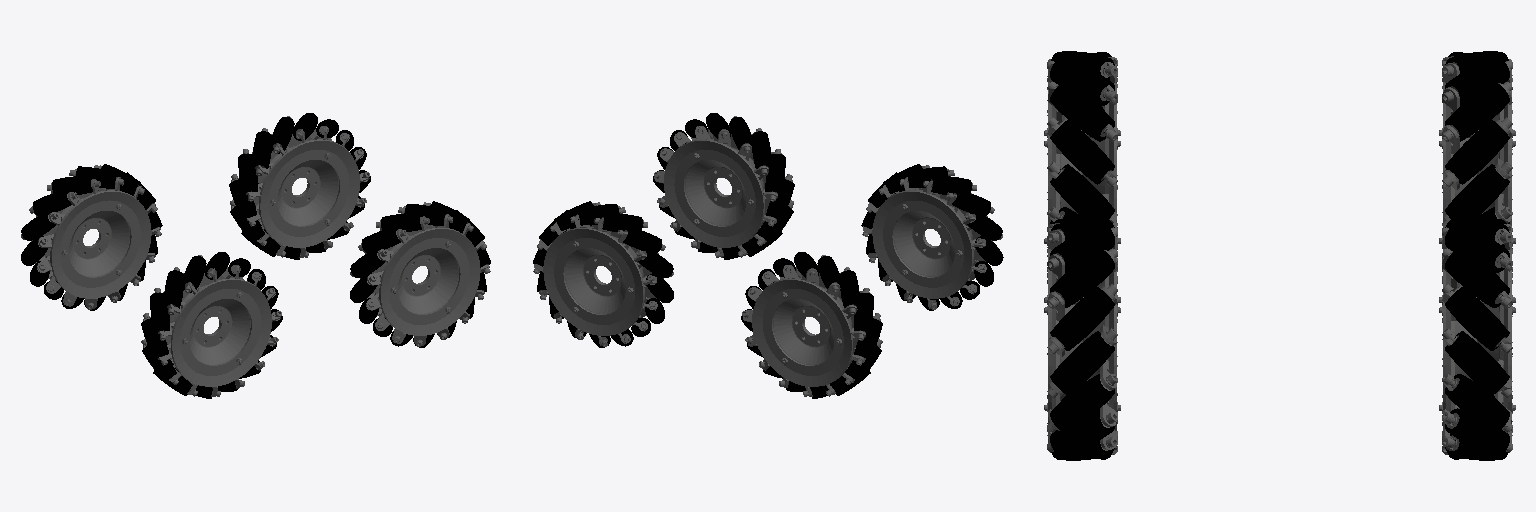
--- What the picture shows (computed from the rendered views, not written in the file) ---
3 views of the same robot in one strip: view 1: azimuth 30°, elevation 25°; view 2: azimuth 150°, elevation 25°; view 3: azimuth 270°, elevation 25° (orthographic).
Robot: robomaster_ep — 99 links, 98 joints (2 revolute, 64 continuous, 32 fixed); root link base_link; default pose: every joint at zero.
Links seen in each view (by area): view 1: rear_left_wheel_link, front_right_wheel_link, rear_right_wheel_link, front_left_wheel_link, rear_right_roller2_link, front_left_roller2_link, front_left_roller3_link, front_right_roller3_link, rear_right_roller3_link, rear_left_roller3_link, rear_left_roller4_link, front_right_roller4_link (+8 smaller); view 2: front_right_wheel_link, rear_left_wheel_link, rear_right_wheel_link, front_left_wheel_link, front_left_roller3_link, rear_right_roller3_link, front_right_roller2_link, rear_right_roller4_link, rear_left_roller2_link, front_left_roller4_link, front_right_roller3_link, rear_left_roller3_link (+8 smaller); view 3: front_right_wheel_link, front_left_wheel_link, rear_left_wheel_link, rear_right_wheel_link, front_left_roller8_link, front_left_roller7_link, rear_right_roller7_link, rear_left_roller7_link, front_right_roller8_link, front_right_roller7_link, front_left_roller6_link, rear_right_roller6_link (+18 smaller).
Link boxes in pixels (x1,y1,x2,y2): rear_left_wheel_link: [31, 165, 160, 308]; front_right_wheel_link: [360, 203, 489, 345]; rear_right_wheel_link: [143, 265, 280, 396]; front_left_wheel_link: [231, 126, 369, 257]; rear_right_roller2_link: [150, 288, 169, 340]; front_left_roller2_link: [238, 149, 258, 201]; front_left_roller3_link: [252, 128, 271, 175]; front_right_roller3_link: [358, 227, 406, 252]; rear_right_roller3_link: [164, 267, 183, 314]; rear_left_roller3_link: [29, 190, 77, 215]; rear_left_roller4_link: [47, 176, 100, 194]; front_right_roller4_link: [376, 213, 429, 231]; front_right_wheel_link: [654, 126, 792, 257]; rear_left_wheel_link: [743, 265, 880, 396]; rear_right_wheel_link: [863, 166, 992, 308]; front_left_wheel_link: [534, 203, 663, 345]; front_left_roller3_link: [617, 227, 665, 252]; rear_right_roller3_link: [946, 190, 994, 215]; front_right_roller2_link: [765, 149, 785, 201]; rear_right_roller4_link: [923, 176, 976, 194]; rear_left_roller2_link: [854, 288, 873, 340]; front_left_roller4_link: [594, 213, 647, 231]; front_right_roller3_link: [752, 128, 771, 175]; rear_left_roller3_link: [840, 267, 859, 314]; front_right_wheel_link: [1044, 223, 1120, 449]; front_left_wheel_link: [1439, 224, 1515, 450]; rear_left_wheel_link: [1439, 56, 1515, 271]; rear_right_wheel_link: [1044, 57, 1120, 271]; front_left_roller8_link: [1442, 328, 1512, 397]; front_left_roller7_link: [1442, 284, 1512, 353]; rear_right_roller7_link: [1047, 117, 1117, 186]; rear_left_roller7_link: [1442, 117, 1512, 186]; front_right_roller8_link: [1047, 328, 1117, 397]; front_right_roller7_link: [1047, 284, 1117, 353]; front_left_roller6_link: [1442, 248, 1512, 308]; rear_right_roller6_link: [1047, 82, 1117, 141].
Size in the robot's own frame: 0.323 by 0.2387 by 0.123 metres.
64 mesh visuals loaded from 38 distinct referenced files (2 Collada DAE); not drawn: 42 (reference not matched to a file when rendering).

URDF robot description (robomaster_ep):
<?xml version="1.0" ?>
<!-- =================================================================================== -->
<!-- |    This document was autogenerated by xacro from robomaster_ep.urdf.xacro       | -->
<!-- |    EDITING THIS FILE BY HAND IS NOT RECOMMENDED                                 | -->
<!-- =================================================================================== -->
<robot name="robomaster_ep">
  <link name="base_link"/>
  <link name="chassis_base_link">
    <inertial>
      <origin rpy="0 0 0" xyz="-0.0058789 -0.0001128 0.0294307"/>
      <mass value="9.934"/>
      <inertia ixx="0.01451" ixy="0" ixz="0" iyy="0.00512" iyz="0" izz="0.01759"/>
    </inertial>
    <visual name="armor">
      <origin rpy="0 0 0" xyz="-0.0064553 -0.078141 0.0292877"/>
      <geometry>
        <mesh filename="../meshes/armor.dae" scale="1.0 1.0 1.0"/>
      </geometry>
      <material name="armor_plastic"/>
    </visual>
    <visual name="battery">
      <origin rpy="0 0 0" xyz="-0.130336 -0.0018702 0.0174177"/>
      <geometry>
        <mesh filename="../meshes/battery.dae" scale="1.0 1.0 1.0"/>
      </geometry>
      <material name="dark_plastic"/>
    </visual>
    <visual name="battery_pin_left">
      <origin rpy="0 0 0" xyz="-0.1158907 0.066115 0.0525243"/>
      <geometry>
        <mesh filename="../meshes/battery_pin_left.dae" scale="1.0 1.0 1.0"/>
      </geometry>
      <material name="dark_plastic"/>
    </visual>
    <visual name="battery_pin_right">
      <origin rpy="0 0 0" xyz="-0.1158907 -0.0658844 0.0525243"/>
      <geometry>
        <mesh filename="../meshes/battery_pin_right.dae" scale="1.0 1.0 1.0"/>
      </geometry>
      <material name="dark_plastic"/>
    </visual>
    <visual name="chassis">
      <origin rpy="0 0 0" xyz="-0.0059039 0.0004154 0.0527955"/>
      <geometry>
        <mesh filename="../meshes/chassis.dae" scale="1.0 1.0 1.0"/>
      </geometry>
      <material name="chassis"/>
    </visual>
    <visual name="controller">
      <origin rpy="0 0 0" xyz="-0.1142288 -0.0006716 0.052675"/>
      <geometry>
        <mesh filename="../meshes/controller.dae" scale="1.0 1.0 1.0"/>
      </geometry>
      <material name="dark_plastic"/>
    </visual>
    <visual name="controller_cover">
      <origin rpy="0 0 0" xyz="-0.0787757 -0.002522 0.0720827"/>
      <geometry>
        <mesh filename="../meshes/controller_cover.dae" scale="1.0 1.0 1.0"/>
      </geometry>
      <material name="cover_plastic"/>
    </visual>
    <collision name="base_collision">
      <origin rpy="0 0 0" xyz="-0.0058789 -0.0001128 0.0294307"/>
      <geometry>
        <mesh filename="../meshes/base_collision.dae" scale="1.0 1.0 1.0"/>
      </geometry>
    </collision>
  </link>
  <joint name="chassis_base_joint" type="fixed">
    <origin rpy="0 0 0" xyz="0 0 0.03465"/>
    <parent link="base_link"/>
    <child link="chassis_base_link"/>
  </joint>
  <link name="front_hit_sensor_link">
    <inertial>
      <origin rpy="0 0 0" xyz="0 0 0"/>
      <mass value="0.001"/>
      <inertia ixx="0.001" ixy="0" ixz="0" iyy="0.001" iyz="0" izz="0.001"/>
    </inertial>
    <visual name="front_hit_sensor">
      <origin rpy="0 0 0" xyz="0 0 0"/>
      <geometry>
        <mesh filename="../meshes/hit_sensor.dae" scale="1.0 1.0 1.0"/>
      </geometry>
      <material name="hit_detector"/>
    </visual>
  </link>
  <link name="front_led_link">
    <inertial>
      <origin rpy="0 0 0" xyz="0 0 0"/>
      <mass value="0.001"/>
      <inertia ixx="0.001" ixy="0" ixz="0" iyy="0.001" iyz="0" izz="0.001"/>
    </inertial>
    <visual name="front_led">
      <origin rpy="0 0 0" xyz="0 0 0"/>
      <geometry>
        <mesh filename="../meshes/led.dae" scale="1.0 1.0 1.0"/>
      </geometry>
      <material name="led_light"/>
    </visual>
  </link>
  <joint name="front_hit_sensor_joint" type="fixed">
    <origin rpy="0 0 0" xyz="0.1569985 -0.0004276 0.0432862"/>
    <parent link="chassis_base_link"/>
    <child link="front_hit_sensor_link"/>
  </joint>
  <joint name="front_led_joint" type="fixed">
    <origin rpy="0 0 0" xyz="0.0087428 -0.0012841 3.75e-05"/>
    <parent link="front_hit_sensor_link"/>
    <child link="front_led_link"/>
  </joint>
  <link name="left_hit_sensor_link">
    <inertial>
      <origin rpy="0 0 0" xyz="0 0 0"/>
      <mass value="0.001"/>
      <inertia ixx="0.001" ixy="0" ixz="0" iyy="0.001" iyz="0" izz="0.001"/>
    </inertial>
    <visual name="left_hit_sensor">
      <origin rpy="0 0 0" xyz="0 0 0"/>
      <geometry>
        <mesh filename="../meshes/hit_sensor.dae" scale="1.0 1.0 1.0"/>
      </geometry>
      <material name="hit_detector"/>
    </visual>
  </link>
  <link name="left_led_link">
    <inertial>
      <origin rpy="0 0 0" xyz="0 0 0"/>
      <mass value="0.001"/>
      <inertia ixx="0.001" ixy="0" ixz="0" iyy="0.001" iyz="0" izz="0.001"/>
    </inertial>
    <visual name="left_led">
      <origin rpy="0 0 0" xyz="0 0 0"/>
      <geometry>
        <mesh filename="../meshes/led.dae" scale="1.0 1.0 1.0"/>
      </geometry>
      <material name="led_light"/>
    </visual>
  </link>
  <joint name="left_hit_sensor_joint" type="fixed">
    <origin rpy="0 0 1.5707963267948966" xyz="-0.0024413 0.0886932 0.0298341"/>
    <parent link="chassis_base_link"/>
    <child link="left_hit_sensor_link"/>
  </joint>
  <joint name="left_led_joint" type="fixed">
    <origin rpy="0 0 0" xyz="0.0087428 -0.0012841 3.75e-05"/>
    <parent link="left_hit_sensor_link"/>
    <child link="left_led_link"/>
  </joint>
  <link name="rear_hit_sensor_link">
    <inertial>
      <origin rpy="0 0 0" xyz="0 0 0"/>
      <mass value="0.001"/>
      <inertia ixx="0.001" ixy="0" ixz="0" iyy="0.001" iyz="0" izz="0.001"/>
    </inertial>
    <visual name="rear_hit_sensor">
      <origin rpy="0 0 0" xyz="0 0 0"/>
      <geometry>
        <mesh filename="../meshes/hit_sensor.dae" scale="1.0 1.0 1.0"/>
      </geometry>
      <material name="hit_detector"/>
    </visual>
  </link>
  <link name="rear_led_link">
    <inertial>
      <origin rpy="0 0 0" xyz="0 0 0"/>
      <mass value="0.001"/>
      <inertia ixx="0.001" ixy="0" ixz="0" iyy="0.001" iyz="0" izz="0.001"/>
    </inertial>
    <visual name="rear_led">
      <origin rpy="0 0 0" xyz="0 0 0"/>
      <geometry>
        <mesh filename="../meshes/led.dae" scale="1.0 1.0 1.0"/>
      </geometry>
      <material name="led_light"/>
    </visual>
  </link>
  <joint name="rear_hit_sensor_joint" type="fixed">
    <origin rpy="0 0 3.141592653589793" xyz="-0.1581827 -0.0027864 0.0303668"/>
    <parent link="chassis_base_link"/>
    <child link="rear_hit_sensor_link"/>
  </joint>
  <joint name="rear_led_joint" type="fixed">
    <origin rpy="0 0 0" xyz="0.0087428 -0.0012841 3.75e-05"/>
    <parent link="rear_hit_sensor_link"/>
    <child link="rear_led_link"/>
  </joint>
  <link name="right_hit_sensor_link">
    <inertial>
      <origin rpy="0 0 0" xyz="0 0 0"/>
      <mass value="0.001"/>
      <inertia ixx="0.001" ixy="0" ixz="0" iyy="0.001" iyz="0" izz="0.001"/>
    </inertial>
    <visual name="right_hit_sensor">
      <origin rpy="0 0 0" xyz="0 0 0"/>
      <geometry>
        <mesh filename="../meshes/hit_sensor.dae" scale="1.0 1.0 1.0"/>
      </geometry>
      <material name="hit_detector"/>
    </visual>
  </link>
  <link name="right_led_link">
    <inertial>
      <origin rpy="0 0 0" xyz="0 0 0"/>
      <mass value="0.001"/>
      <inertia ixx="0.001" ixy="0" ixz="0" iyy="0.001" iyz="0" izz="0.001"/>
    </inertial>
    <visual name="right_led">
      <origin rpy="0 0 0" xyz="0 0 0"/>
      <geometry>
        <mesh filename="../meshes/led.dae" scale="1.0 1.0 1.0"/>
      </geometry>
      <material name="led_light"/>
    </visual>
  </link>
  <joint name="right_hit_sensor_joint" type="fixed">
    <origin rpy="0 0 -1.5707963267948966" xyz="-0.0024413 -0.0886932 0.0298341"/>
    <parent link="chassis_base_link"/>
    <child link="right_hit_sensor_link"/>
  </joint>
  <joint name="right_led_joint" type="fixed">
    <origin rpy="0 0 0" xyz="0.0087428 -0.0012841 3.75e-05"/>
    <parent link="right_hit_sensor_link"/>
    <child link="right_led_link"/>
  </joint>

  

  <material name="armor_plastic">
    <color rgba="0.2277128 0.2277128 0.2277128 0.8"/>
  </material>
  <material name="chassis">
    <color rgba="0.0981132 0.0981132 0.0981132 1.0"/>
  </material>
  <material name="cover_plastic">
    <color rgba="0.2548322 0.2548322 0.2548322 0.30000000000000004"/>
  </material>
  <material name="dark_plastic">
    <color rgba="0.0281746 0.0281746 0.0281746 1.0"/>
  </material>
  <material name="metal">
    <color rgba="0.0281746 0.028 0.0281746 1.0"/>
  </material>
  <material name="hit_detector">
    <color rgba="0.1697846 0.1697846 0.1697846 1.0"/>
  </material>
  <material name="led_light">
    <color rgba="0 0.7773585 0.7773583 1.0"/>
  </material>
  <material name="wheel_plastic">
    <color rgba="0.2739087 0.2739087 0.2739087 1.0"/>
  </material>
  <material name="EP_up.001">
    <color rgba="0.0284811 0.0284811 0.0284811 1.0"/>
  </material>
  <link name="arm_1_link">
    <inertial>
      <origin rpy="0 0 0" xyz="-0.0005586 0.023592 0.0011729"/>
      <mass value="0.056"/>
      <inertia ixx="0.0156113" ixy="2.43e-05" ixz="1.8e-06" iyy="0.0161553" iyz="-0.0023011" izz="0.0018092"/>
    </inertial>
    <visual name="arm_1">
      <origin rpy="0 0 0" xyz="0.0073108 0.0184816 0.0437162"/>
      <geometry>
        <mesh filename="../meshes/arm_1.dae" scale="1.0 1.0 1.0"/>
      </geometry>
      <material name="metal"/>
    </visual>
    <visual name="arm_1_cylinder">
      <origin rpy="0 0 0" xyz="-0.0239031 0.0255713 -0.0368083"/>
      <geometry>
        <mesh filename="../meshes/arm_1_cylinder.dae" scale="1.0 1.0 1.0"/>
      </geometry>
      <material name="metal"/>
    </visual>
    <collision name="arm_1_collision">
      <origin rpy="0 0 0" xyz="0.0065116 0.0213649 0.0639448"/>
      <geometry>
        <mesh filename="../meshes/arm_1_collision.dae" scale="1.0 1.0 1.0"/>
      </geometry>
    </collision>
  </link>
  <!-- <link name="arm_2_dummy">
    </link> -->
  <link name="arm_2_link">
    <inertial>
      <origin rpy="0 0 0" xyz="0.0222614 -0.0202749 -0.008504"/>
      <mass value="0.08"/>
      <inertia ixx="0.0118624" ixy="1e-06" ixz="-3e-07" iyy="0.0041691" iyz="0.0031106" izz="0.0101456"/>
    </inertial>
    <visual name="arm_2">
      <origin rpy="0 0 0" xyz="0.0256122 -0.020134 -0.001308"/>
      <geometry>
        <mesh filename="../meshes/arm_2.dae" scale="1.0 1.0 1.0"/>
      </geometry>
      <material name="Test">
        <color rgba="0.0 0.0 0.0 1.0"/>
      </material>
    </visual>
    <visual name="arm_2_bar_1">
      <origin rpy="0 0 0" xyz="7.62e-05 0.0010863 -0.0002509"/>
      <geometry>
        <mesh filename="../meshes/arm_2_bar_1.dae" scale="1.0 1.0 1.0"/>
      </geometry>
      <material name="metal"/>
    </visual>
    <visual name="arm_2_bar_2">
      <origin rpy="0 0 0" xyz="-0.0423232 -0.0099192 0.0221971"/>
      <geometry>
        <mesh filename="../meshes/arm_2_bar_2.dae" scale="1.0 1.0 1.0"/>
      </geometry>
      <material name="metal"/>
    </visual>
    <collision name="arm_2_collision">
      <origin rpy="0 0 0" xyz="0.0222614 -0.0202749 -0.008504"/>
      <geometry>
        <mesh filename="../meshes/arm_2_collision.dae" scale="1.0 1.0 1.0"/>
      </geometry>
    </collision>
  </link>
  <!-- <link name="arm_base_attachment_link">
      <inertial>
        <origin xyz="0 0 0" rpy="0 0 0"/>
        <mass value="0.001"/>
        <inertia ixx="0.001" ixy="0" ixz="0" iyy="0.001" iyz="0" izz="0.001"/>
      </inertial>
    </link> -->
  <link name="arm_base_link">
    <inertial>
      <origin rpy="0 0 0" xyz="0 0 0"/>
      <mass value="0.3"/>
      <inertia ixx="0.0023" ixy="0" ixz="0" iyy="0.0025" iyz="0" izz="0.00072"/>
    </inertial>
    <visual name="arm_base">
      <origin rpy="0 0 0" xyz="-0.0008983 -0.0029745 -2.44e-05"/>
      <geometry>
        <mesh filename="../meshes/arm_base.dae" scale="1.0 1.0 1.0"/>
      </geometry>
      <material name="metal"/>
    </visual>
    <visual name="left_servo">
      <origin rpy="0 0 0" xyz="-0.013507 0 -0.0060673"/>
      <geometry>
        <mesh filename="../meshes/left_servo.dae" scale="1.0 1.0 1.0"/>
      </geometry>
      <material name="metal"/>
    </visual>
    <visual name="right_servo">
      <origin rpy="0 0 0" xyz="-0.013507 0 -0.0060673"/>
      <geometry>
        <mesh filename="../meshes/right_servo.dae" scale="1.0 1.0 1.0"/>
      </geometry>
      <material name="metal"/>
    </visual>
    <collision name="arm_base_collision">
      <origin rpy="0 0 0" xyz="-0.002098 -0.0004909 0.0073523"/>
      <geometry>
        <mesh filename="../meshes/arm_base_collision.dae" scale="1.0 1.0 1.0"/>
      </geometry>
    </collision>
  </link>
  <link name="end_point_link">
    </link>
  <link name="endpoint_bracket_link">
    <inertial>
      <origin rpy="0 0 0" xyz="0.0116468 -0.0288044 0.0041342"/>
      <mass value="0.028"/>
      <inertia ixx="0.0004413" ixy="0.0001147" ixz="2.69e-05" iyy="0.0008301" iyz="-2.89e-05" izz="0.0008237"/>
    </inertial>
    <visual name="endpoint_bracket">
      <origin rpy="0 0 0" xyz="0.0071657 -0.0245846 0.0008407"/>
      <geometry>
        <mesh filename="../meshes/endpoint_bracket.dae" scale="1.0 1.0 1.0"/>
      </geometry>
      <material name="metal"/>
    </visual>
    <collision name="endpoint_bracket_collision">
      <origin rpy="0 0 0" xyz="0.0116468 -0.0288044 0.0041342"/>
      <geometry>
        <mesh filename="../meshes/endpoint_bracket_collision.dae" scale="1.0 1.0 1.0"/>
      </geometry>
    </collision>
  </link>
  <!-- <link name="rod_1_dummy">
    </link> -->
  <link name="rod_1_link">
    <inertial>
      <origin rpy="0 0 0" xyz="-0.0477809 0 0.0272644"/>
      <mass value="0.012"/>
      <inertia ixx="0.0016031" ixy="0" ixz="0" iyy="0.0004085" iyz="0.000657" izz="0.0011959"/>
    </inertial>
    <visual name="rod_1">
      <origin rpy="0 0 0" xyz="-0.0479737 0 0.0301898"/>
      <geometry>
        <mesh filename="../meshes/rod_1.dae" scale="1.0 1.0 1.0"/>
      </geometry>
      <material name="metal"/>
    </visual>
    <collision name="rod_1_collision">
      <origin rpy="0 0 0" xyz="-0.0477809 0 0.0272644"/>
      <geometry>
        <mesh filename="../meshes/rod_1_collision.dae" scale="1.0 1.0 1.0"/>
      </geometry>
    </collision>
  </link>
  <!-- <link name="rod_2_dummy">
      <inertial>
        <origin xyz="0 0 0" rpy="0 0 0"/>
        <mass value="0.001"/>
        <inertia ixx="0.001" ixy="0" ixz="0" iyy="0.001" iyz="0" izz="0.001"/>
      </inertial>
    </link> -->
  <link name="rod_2_link">
    <inertial>
      <origin rpy="0 0 0" xyz="0.0011528 0 0.0549123"/>
      <mass value="0.012"/>
      <inertia ixx="0.0016147" ixy="0" ixz="0" iyy="0.0015792" iyz="-3.39e-05" izz="3.69e-05"/>
    </inertial>
    <visual name="rod_2">
      <origin rpy="0 0 0" xyz="-0.0012722 0 0.0561361"/>
      <geometry>
        <mesh filename="../meshes/rod_2.dae" scale="1.0000004 1.0 0.9999998"/>
      </geometry>
      <material name="metal"/>
    </visual>
    <collision name="rod_2_collision">
      <origin rpy="0 0 0" xyz="0.0011528 0 0.0549123"/>
      <geometry>
        <mesh filename="../meshes/rod_2_collision.dae" scale="1.0000004 1.0 0.9999998"/>
      </geometry>
    </collision>
  </link>
  <!-- <link name="rod_3_dummy">
      <inertial>
        <origin xyz="0 0 0" rpy="0 0 0"/>
        <mass value="0.001"/>
        <inertia ixx="0.001" ixy="0" ixz="0" iyy="0.001" iyz="0" izz="0.001"/>
      </inertial>
    </link> -->
  <link name="rod_3_link">
    <inertial>
      <origin rpy="0 0 0" xyz="-0.0003574 9.5e-06 0.0001674"/>
      <mass value="0.012"/>
      <inertia ixx="0.0059201" ixy="0" ixz="0" iyy="0.005887" iyz="1.87e-05" izz="3.45e-05"/>
    </inertial>
    <visual name="rod_3">
      <origin rpy="0 0 0" xyz="-0.0017304 0 0.0633558"/>
      <geometry>
        <mesh filename="../meshes/rod_3.dae" scale="1.0 1.0 1.0"/>
      </geometry>
      <material name="metal"/>
    </visual>
    <collision name="rod_3_collision">
      <origin rpy="0 0 0" xyz="0.0004696 9.5e-06 0.0561803"/>
      <geometry>
        <mesh filename="../meshes/rod_3_collision.dae" scale="1.0 1.0 1.0"/>
      </geometry>
    </collision>
  </link>
  <link name="rod_link">
    <inertial>
      <origin rpy="0 0 0" xyz="-8.11e-05 0.0023793 8.58e-05"/>
      <mass value="0.011"/>
      <inertia ixx="0.0009103" ixy="0" ixz="0" iyy="0.0002029" iyz="0.0003431" izz="0.0007136"/>
    </inertial>
    <visual name="rod">
      <origin rpy="0 0 0" xyz="-0.0261857 0.0022566 0.0121229"/>
      <geometry>
        <mesh filename="../meshes/rod.dae" scale="1.0 1.0 1.0"/>
      </geometry>
      <material name="metal"/>
    </visual>
    <collision name="rod_collision">
      <origin rpy="0 0 0" xyz="-0.02432 0.0022871 0.0136485"/>
      <geometry>
        <mesh filename="../meshes/rod_collision.dae" scale="1.0 1.0 1.0"/>
      </geometry>
    </collision>
  </link>
  <!-- <link name="triangle_1_dummy">
      <inertial>
        <origin xyz="0 0 0" rpy="0 0 0"/>
        <mass value="0.001"/>
        <inertia ixx="0.001" ixy="0" ixz="0" iyy="0.001" iyz="0" izz="0.001"/>
      </inertial>
    </link> -->
  <!-- <link name="triangle_2_dummy">
    </link> -->
  <link name="triangle_link">
    <inertial>
      <origin rpy="0 0 0" xyz="0.1417841 0.0321051 -0.1257179"/>
      <mass value="0.009"/>
      <inertia ixx="0.0205056" ixy="0.0021202" ixz="-0.0023248" iyy="0.0097562" iyz="0.0101162" izz="0.0117256"/>
    </inertial>
    <visual name="triangle">
      <origin rpy="0 0 0" xyz="-0.0095953 0 0.0131247"/>
      <geometry>
        <mesh filename="../meshes/triangle.dae" scale="1.0 1.0 1.0"/>
      </geometry>
      <material name="metal"/>
    </visual>
    <collision name="triangle_collision">
      <origin rpy="0 0 0" xyz="-0.0091994 0 0.012377"/>
      <geometry>
        <mesh filename="../meshes/triangle_collision.dae" scale="1.0 1.0 1.0"/>
      </geometry>
    </collision>
  </link>
  <joint name="arm_1_joint" type="fixed">
    <origin rpy="0 1.3 0" xyz="0.0103961 -0.0255713 0.030741"/>
    <parent link="arm_base_link"/>
    <child link="arm_1_link"/>
    <axis xyz="0.0 1.0 0"/>
    <limit effort="1" lower="-0.274" upper="1.384" velocity="1"/>
  </joint>
  <!-- <joint name="arm_2_dummy" type="floating">
      <origin xyz="-0.0419304 0.0028425 0.0218356" rpy="0 0 0"/>
      <parent link="arm_2_link"/>
      <child link="arm_2_dummy"/>
    </joint> -->
  <joint name="arm_2_joint" type="fixed">
    <origin rpy="0 -0.5 0" xyz="0.0018704 0.0438659 0.1210238"/>
    <parent link="arm_1_link"/>
    <child link="arm_2_link"/>
    <axis xyz="0.0 1.0 0"/>
    <limit effort="1" velocity="1"/>
    <mimic joint="rod_3_joint" multiplier="-1.0" offset="0.0"/>
  </joint>
  <!-- <joint name="arm_base_attachment_joint" type="fixed">
      <origin xyz="0 0.0010384 0.0906477" rpy="0 0 0"/>
      <parent link="base_link"/>
      <child link="arm_base_attachment_link"/>
    </joint> -->
  <joint name="arm_base_joint" type="fixed">
    <origin rpy="0 0 0" xyz="0 0.0010384 0.0906477"/>
    <parent link="chassis_base_link"/>
    <child link="arm_base_link"/>
  </joint>
  <!-- <joint name="attachement_link" type="floating">
      <origin xyz="0 0 0" rpy="0 0 0"/>
      <parent link="arm_base_link"/>
      <child link="attachement_link"/>
    </joint> -->
  <joint name="end_point_joint" type="fixed">
    <origin rpy="0 0 0" xyz="0.0110125 -0.0270264 -0.0103816"/>
    <parent link="endpoint_bracket_link"/>
    <child link="end_point_link"/>
  </joint>
  <joint name="endpoint_bracket_joint" type="fixed">
    <origin rpy="0 0 0" xyz="0.1058557 0.006752 -0.0561093"/>
    <parent link="arm_2_link"/>
    <child link="endpoint_bracket_link"/>
    <axis xyz="0.0 1.0 0"/>
    <mimic joint="rod_joint" multiplier="-1.0" offset="0.0"/>
    <!-- <limit effort="0" velocity="0"/> -->
  </joint>
  <!-- <joint name="rod_1_dummy" type="floating">
      <origin xyz="-0.1048751 0 0.0582511" rpy="0 0 0"/>
      <parent link="rod_1_link"/>
      <child link="rod_1_dummy"/>
    </joint> -->
  <joint name="rod_1_joint" type="fixed">
    <origin rpy="0 -0.021293 0" xyz="0.0134583 -0.0540971 0.0213068"/>
    <parent link="endpoint_bracket_link"/>
    <child link="rod_1_link"/>
    <axis xyz="0.0 1.0 0"/>
    <mimic joint="rod_joint" multiplier="1.0" offset="0.0"/>
  </joint>
  <!-- <joint name="rod_2_dummy" type="floating">
      <origin xyz="0.0036225 0 0.1198535" rpy="0 0 0"/>
      <parent link="rod_2_link"/>
      <child link="rod_2_dummy"/>
    </joint> -->
  <joint name="rod_2_joint" type="fixed">
    <origin rpy="0 1.3 0" xyz="-0.0224276 -0.0290701 0.0554782"/>
    <parent link="arm_base_link"/>
    <child link="rod_2_link"/>
    <axis xyz="0.0 1.0 0"/>
    <mimic joint="arm_1_joint" multiplier="1.0" offset="0.0"/>
    <!-- <limit effort="0" velocity="0"/> -->
  </joint>
  <!-- <joint name="rod_3_dummy" type="floating">
      <origin xyz="0.0029281 -0.0007404 0.1193638" rpy="0 0 0"/>
      <parent link="rod_3_link"/>
      <child link="rod_3_dummy"/>
    </joint> -->
  <joint name="rod_3_joint" type="fixed">
    <origin rpy="0 0.5 0" xyz="-0.042397 0.0004533 0.0223131"/>
    <parent link="rod_link"/>
    <child link="rod_3_link"/>
    <axis xyz="0.0 1.0 0"/>
    <limit effort="1" lower="-0.34732" upper="1.21475" velocity="1"/>
  </joint>
  <joint name="rod_joint" type="fixed">
    <origin rpy="0 0.8 0" xyz="0.009805 0.0214241 0.0319234"/>
    <parent link="arm_base_link"/>
    <child link="rod_link"/>
    <axis xyz="0.0 1.0 0"/>
    <limit effort="1" lower="-0.79936" upper="1.73137" velocity="1"/>
  </joint>
  <!-- <joint name="triangle_1_dummy" type="floating">
      <origin xyz="-0.037193 0 0.0147539" rpy="0 0 0"/>
      <parent link="triangle_link"/>
      <child link="triangle_1_dummy"/>
    </joint>

    <joint name="triangle_2_dummy" type="floating">
      <origin xyz="0.0077464 6.66e-05 0.0235099" rpy="0 0 0"/>
      <parent link="triangle_link"/>
      <child link="triangle_2_dummy"/>
    </joint> -->
  <joint name="triangle_joint" type="fixed">
    <origin rpy="0 -1.1 0" xyz="0.0020224 -0.007103 0.1212334"/>
    <parent link="arm_1_link"/>
    <child link="triangle_link"/>
    <axis xyz="0.0 1.0 0"/>
    <mimic joint="arm_1_joint" multiplier="-1.0" offset="0.0"/>
  </joint>




  <link name="left_gripper_link_1">
    <inertial>
      <origin rpy="0 0 0" xyz="0 0 0"/>
      <mass value="0.001"/>
      <inertia ixx="0.001" ixy="0" ixz="0" iyy="0.001" iyz="0" izz="0.001"/>
    </inertial>
    <visual name="left_gripper_1">
      <origin rpy="0 0 0" xyz="-1.52e-05 8.12e-05 -2.25e-05"/>
      <geometry>
        <mesh filename="../meshes/gripper_left_1.dae" scale="1.0 1.0 1.0"/>
      </geometry>
      <material name="EP_up.001"/>
    </visual>
  </link>
  <link name="left_gripper_link_2">
    <inertial>
      <origin rpy="0 0 0" xyz="0 0 0"/>
      <mass value="0.001"/>
      <inertia ixx="0.001" ixy="0" ixz="0" iyy="0.001" iyz="0" izz="0.001"/>
    </inertial>
    <visual name="left_gripper_2">
      <origin rpy="0 0 0" xyz="0.0135565 -0.0033557 -2.25e-05"/>
      <geometry>
        <mesh filename="../meshes/gripper_left_2.dae" scale="1.0 1.0 1.0"/>
      </geometry>
      <material name="EP_up.001"/>
    </visual>
    <collision name="left_gripper_2_collision">
      <origin rpy="0 0 0" xyz="0.0136108 -0.003318 -0.0296613"/>
      <geometry>
        <mesh filename="../meshes/gripper_left_2_collision.dae" scale="1.0 1.0 1.0"/>
      </geometry>
    </collision>
  </link>
  <!-- <link name="left_gripper_link_3_dummy">
          <inertial>
            <origin xyz="0 0 0" rpy="0 0 0"/>
            <mass value="0.001"/>
            <inertia ixx="0.001" ixy="0" ixz="0" iyy="0.001" iyz="0" izz="0.001"/>
          </inertial>
        </link> -->
  <link name="left_gripper_link_4">
    <inertial>
      <origin rpy="0 0 0" xyz="0 0 0"/>
      <mass value="0.001"/>
      <inertia ixx="0.001" ixy="0" ixz="0" iyy="0.001" iyz="0" izz="0.001"/>
    </inertial>
    <visual name="left_gripper_4">
      <origin rpy="0 0 0" xyz="-4.74e-05 0.0001737 -1.67e-05"/>
      <geometry>
        <mesh filename="../meshes/gripper_left_4.dae" scale="1.0 1.0 1.0"/>
      </geometry>
      <material name="EP_up.001"/>
    </visual>
    <collision name="left_gripper_4_collision">
      <origin rpy="0 0 0" xyz="-7.56e-05 -2.97e-05 -0.0296554"/>
      <geometry>
        <mesh filename="../meshes/gripper_left_4_collision.dae" scale="1.0 1.0 1.0"/>
      </geometry>
    </collision>
  </link>
  <link name="left_gripper_link_5">
    <inertial>
      <origin rpy="0 0 0" xyz="0 0 0"/>
      <mass value="0.001"/>
      <inertia ixx="0.001" ixy="0" ixz="0" iyy="0.001" iyz="0" izz="0.001"/>
    </inertial>
    <visual name="left_gripper_5">
      <origin rpy="0 0 0" xyz="-7.26e-05 -1.8e-06 -1.83e-05"/>
      <geometry>
        <mesh filename="../meshes/gripper_left_5.dae" scale="1.0 1.0 1.0"/>
      </geometry>
      <material name="EP_up.001"/>
    </visual>
    <collision name="left_gripper_5_collision">
      <origin rpy="0 0 0" xyz="-7.26e-05 -1.8e-06 -1.83e-05"/>
      <geometry>
        <mesh filename="../meshes/gripper_left_5_collision.dae" scale="1.0 1.0 1.0"/>
      </geometry>
    </collision>
  </link>
  <link name="left_gripper_link_6">
    <inertial>
      <origin rpy="0 0 0" xyz="0 0 0"/>
      <mass value="0.001"/>
      <inertia ixx="0.001" ixy="0" ixz="0" iyy="0.001" iyz="0" izz="0.001"/>
    </inertial>
    <visual name="left_gripper_6">
      <origin rpy="0 0 0" xyz="-0.0149194 -0.0168522 -1.83e-05"/>
      <geometry>
        <mesh filename="../meshes/gripper_left_6.dae" scale="1.0 1.0 1.0"/>
      </geometry>
      <material name="EP_up.001"/>
    </visual>
    <collision name="left_gripper_6_collision">
      <origin rpy="0 0 0" xyz="-0.0149892 -0.0167532 -0.0001821"/>
      <geometry>
        <mesh filename="../meshes/gripper_left_6_collision.dae" scale="1.0 1.0 1.0"/>
      </geometry>
    </collision>
  </link>
  <link name="left_gripper_link_7">
    <inertial>
      <origin rpy="0 0 0" xyz="0 0 0"/>
      <mass value="0.001"/>
      <inertia ixx="0.001" ixy="0" ixz="0" iyy="0.001" iyz="0" izz="0.001"/>
    </inertial>
    <visual name="left_gripper_7">
      <origin rpy="0 0 0" xyz="-0.0153264 -0.0166317 -1.83e-05"/>
      <geometry>
        <mesh filename="../meshes/gripper_left_7.dae" scale="1.0 1.0 1.0"/>
      </geometry>
      <material name="EP_up.001"/>
    </visual>
    <collision name="left_gripper_collision">
      <origin rpy="0 0 0" xyz="-0.0149126 -0.0167727 -0.0296388"/>
      <geometry>
        <mesh filename="../meshes/gripper_left_collision.dae" scale="1.0 1.0 1.0"/>
      </geometry>
    </collision>
  </link>
  <link name="gripper_link">
    <inertial>
      <origin rpy="0 0 0" xyz="0.0326578 -9.78e-05 -0.0327003"/>
      <mass value="0.15"/>
      <inertia ixx="0.0001376" ixy="7.89e-05" ixz="1.5e-06" iyy="0.0002582" iyz="2.9e-06" izz="0.0002497"/>
    </inertial>
    <visual name="gripper_base">
      <origin rpy="0 0 0" xyz="0 0 0"/>
      <geometry>
        <mesh filename="../meshes/gripper_base.dae" scale="1.0 1.0 1.0"/>
      </geometry>
      <material name="EP_up.001"/>
    </visual>
    <collision name="gripper_base_collision">
      <origin rpy="0 0 0" xyz="0.0003688 -9.78e-05 -0.0112797"/>
      <geometry>
        <mesh filename="../meshes/gripper_base_collision.dae" scale="1.0 1.0 1.0"/>
      </geometry>
    </collision>
  </link>
  <link name="gripper_m_link">
    <inertial>
      <origin rpy="0 0 0" xyz="0.0326578 -9.78e-05 -0.0327003"/>
      <mass value="0.15"/>
      <inertia ixx="0.0001376" ixy="7.89e-05" ixz="1.5e-06" iyy="0.0002582" iyz="2.9e-06" izz="0.0002497"/>
    </inertial>
  </link>
  <link name="gripper_t_link">

      </link>
  <joint name="gripper_m_joint" type="fixed">
    <limit effort="10000" lower="-0.023" upper="0.001" velocity="1"/>
    <origin rpy="0 0 0" xyz="0 0 0"/>
    <parent link="gripper_link"/>
    <child link="gripper_m_link"/>
    <axis xyz="-1 0 0"/>
  </joint>
  <!-- <link name="left_gripper_8_link_dummy">
          <inertial>
            <origin xyz="0 0 0" rpy="0 0 0"/>
            <mass value="0.001"/>
            <inertia ixx="0.001" ixy="0" ixz="0" iyy="0.001" iyz="0" izz="0.001"/>
          </inertial>
        </link> -->
  <link name="right_gripper_link_1">
    <inertial>
      <origin rpy="0 0 0" xyz="0 0 0"/>
      <mass value="0.001"/>
      <inertia ixx="0.001" ixy="0" ixz="0" iyy="0.001" iyz="0" izz="0.001"/>
    </inertial>
    <visual name="right_gripper_1">
      <origin rpy="0 0 0" xyz="-1.52e-05 -8.12e-05 -2.25e-05"/>
      <geometry>
        <mesh filename="../meshes/right_gripper_1.dae" scale="1.0 1.0 1.0"/>
      </geometry>
      <material name="EP_up.001"/>
    </visual>
  </link>
  <link name="right_gripper_link_2">
    <inertial>
      <origin rpy="0 0 0" xyz="0 0 0"/>
      <mass value="0.001"/>
      <inertia ixx="0.001" ixy="0" ixz="0" iyy="0.001" iyz="0" izz="0.001"/>
    </inertial>
    <visual name="right_gripper_2">
      <origin rpy="0 0 0" xyz="0.0127099 0.0021056 -2.25e-05"/>
      <geometry>
        <mesh filename="../meshes/right_gripper_2.dae" scale="1.0 1.0 1.0"/>
      </geometry>
      <material name="EP_up.001"/>
    </visual>
    <collision name="right_gripper_2_collision">
      <origin rpy="0 0 0" xyz="0.0134077 0.0024401 -0.0296613"/>
      <geometry>
        <mesh filename="../meshes/right_gripper_2_collision.dae" scale="1.0 1.0 1.0"/>
      </geometry>
    </collision>
  </link>
  <!-- <link name="right_gripper_link_3_dummy">
          <inertial>
            <origin xyz="0 0 0" rpy="0 0 0"/>
            <mass value="0.001"/>
            <inertia ixx="0.001" ixy="0" ixz="0" iyy="0.001" iyz="0" izz="0.001"/>
          </inertial>
        </link> -->
  <link name="right_gripper_link_4">
    <inertial>
      <origin rpy="0 0 0" xyz="0 0 0"/>
      <mass value="0.001"/>
      <inertia ixx="0.001" ixy="0" ixz="0" iyy="0.001" iyz="0" izz="0.001"/>
    </inertial>
    <visual name="right_gripper_4">
      <origin rpy="0 0 0" xyz="-4.74e-05 -0.0001737 -1.67e-05"/>
      <geometry>
        <mesh filename="../meshes/right_gripper_4.dae" scale="1.0 1.0 1.0"/>
      </geometry>
      <material name="EP_up.001"/>
    </visual>
    <collision name="right_gripper_4_collision">
      <origin rpy="0 0 0" xyz="-6.57e-05 1.16e-05 -0.0296554"/>
      <geometry>
        <mesh filename="../meshes/right_gripper_4_collision.dae" scale="1.0 1.0 1.0"/>
      </geometry>
    </collision>
  </link>
  <link name="right_gripper_link_5">
    <inertial>
      <origin rpy="0 0 0" xyz="0 0 0"/>
      <mass value="0.001"/>
      <inertia ixx="0.001" ixy="0" ixz="0" iyy="0.001" iyz="0" izz="0.001"/>
    </inertial>
    <visual name="right_gripper_5">
      <origin rpy="0 0 0" xyz="-7.26e-05 1.7e-06 -1.83e-05"/>
      <geometry>
        <mesh filename="../meshes/right_gripper_5.dae" scale="1.0 1.0 1.0"/>
      </geometry>
      <material name="EP_up.001"/>
    </visual>
    <collision name="right_gripper_5_collision">
      <origin rpy="0 0 0" xyz="-0.0001606 2.35e-05 8.1e-05"/>
      <geometry>
        <mesh filename="../meshes/right_gripper_5_collision.dae" scale="1.0 1.0 1.0"/>
      </geometry>
    </collision>
  </link>
  <link name="right_gripper_link_6">
    <inertial>
      <origin rpy="0 0 0" xyz="0 0 0"/>
      <mass value="0.001"/>
      <inertia ixx="0.001" ixy="0" ixz="0" iyy="0.001" iyz="0" izz="0.001"/>
    </inertial>
    <visual name="right_gripper_6">
      <origin rpy="0 0 0" xyz="-0.03103 0.0338258 -1.83e-05"/>
      <geometry>
        <mesh filename="../meshes/right_gripper_6.dae" scale="1.0 1.0 1.0"/>
      </geometry>
      <material name="EP_up.001"/>
    </visual>
    <collision name="right_gripper_6_collision">
      <origin rpy="0 0 0" xyz="-0.0156676 0.0173828 6.82e-05"/>
      <geometry>
        <mesh filename="../meshes/right_gripper_6_collision.dae" scale="1.0 1.0 1.0"/>
      </geometry>
    </collision>
  </link>
  <link name="right_gripper_link_7">
    <inertial>
      <origin rpy="0 0 0" xyz="0 0 0"/>
      <mass value="0.001"/>
      <inertia ixx="0.001" ixy="0" ixz="0" iyy="0.001" iyz="0" izz="0.001"/>
    </inertial>
    <visual name="right_gripper_7">
      <origin rpy="0 0 0" xyz="-3.72e-05 9e-07 -1.83e-05"/>
      <geometry>
        <mesh filename="../meshes/right_gripper_7.dae" scale="1.0 1.0 1.0"/>
      </geometry>
      <material name="EP_up.001"/>
    </visual>
    <collision name="right_gripper_7_collision">
      <origin rpy="0 0 0" xyz="-0.0150056 0.0168496 -0.0296388"/>
      <geometry>
        <mesh filename="../meshes/right_gripper_7_collision.dae" scale="1.0 1.0 1.0"/>
      </geometry>
    </collision>
  </link>
  <!-- <link name="right_gripper_link_8_dummy">
          <inertial>
            <origin xyz="0 0 0" rpy="0 0 0"/>
            <mass value="0.001"/>
            <inertia ixx="0.001" ixy="0" ixz="0" iyy="0.001" iyz="0" izz="0.001"/>
          </inertial>
        </link> -->
  <joint name="left_gripper_joint_1" type="revolute">
    <origin rpy="0 0 0" xyz="0.0163032 0.0212032 -0.0399201"/>
    <parent link="gripper_m_link"/>
    <child link="left_gripper_link_1"/>
    <axis xyz="0 0 1.0"/>
    <limit effort="10" lower="-0.4" upper="0" velocity="5"/>
  </joint>
  <joint name="left_gripper_joint_2" type="fixed">
    <origin rpy="0 0 0" xyz="0.0213495 0.0130363 0"/>
    <parent link="left_gripper_link_1"/>
    <child link="left_gripper_link_2"/>
    <axis xyz="0 0 1.0"/>
    <limit effort="1" velocity="1"/>
  </joint>
  <!-- <joint name="left_gripper_joint_3_dummy" type="fixed">
          <origin xyz="0.0136876 -0.0029412 0.0002778" rpy="0 0 0"/>
          <parent link="left_gripper_link_2"/>
          <child link="left_gripper_link_3_dummy"/>
        </joint> -->
  <joint name="left_gripper_joint_4" type="fixed">
    <origin rpy="0 0 0" xyz="0.00485 0.0204148 -5.8e-06"/>
    <parent link="left_gripper_link_2"/>
    <child link="left_gripper_link_4"/>
    <axis xyz="0 0 1.0"/>
    <limit effort="1" velocity="1"/>
  </joint>
  <joint name="left_gripper_joint_6" type="fixed">
    <origin rpy="0 0 0" xyz="0.0051144 -0.0140851 0"/>
    <parent link="left_gripper_link_5"/>
    <child link="left_gripper_link_6"/>
    <axis xyz="0 0 1.0"/>
    <limit effort="1" velocity="1"/>
  </joint>
  <joint name="left_gripper_joint_7" type="fixed">
    <origin rpy="0 0 0" xyz="-0.0148823 -0.0168513 0"/>
    <parent link="left_gripper_link_6"/>
    <child link="left_gripper_link_7"/>
    <axis xyz="0 0 1.0"/>
    <limit effort="1" velocity="1"/>
  </joint>
  <!-- <joint name="left_gripper_joint_8_dummy" type="fixed">
          <origin xyz="-0.014742 -0.0167196 -3.77e-05" rpy="0 0 0"/>
          <parent link="left_gripper_link_7"/>
          <child link="left_gripper_8_link_dummy"/>
        </joint> -->
  <joint name="left_gripper_joint_5" type="fixed">
    <origin rpy="0 0 0" xyz="0.0385916 0.0103143 1.6e-06"/>
    <parent link="left_gripper_link_4"/>
    <child link="left_gripper_link_5"/>
    <axis xyz="0 0 1.0"/>
    <limit effort="1" velocity="1"/>
  </joint>
  <joint name="gripper_joint" type="fixed">
    <origin rpy="0 -0.8 0" xyz="0.0002793 -0.027026 0.0001815"/>
    <parent link="endpoint_bracket_link"/>
    <child link="gripper_link"/>
  </joint>
  <joint name="right_gripper_joint_1" type="revolute">
    <origin rpy="0 0 0" xyz="0.0163034 -0.0209781 -0.0399201"/>
    <parent link="gripper_m_link"/>
    <child link="right_gripper_link_1"/>
    <axis xyz="0 0 1.0"/>
    <limit effort="10" lower="0" upper="0.4" velocity="5"/>
  </joint>
  <joint name="right_gripper_joint_2" type="fixed">
    <origin rpy="0 0 0" xyz="0.0213495 -0.0130363 0"/>
    <parent link="right_gripper_link_1"/>
    <child link="right_gripper_link_2"/>
    <axis xyz="0 0 1.0"/>
    <limit effort="1" velocity="1"/>
  </joint>
  <!-- <joint name="right_gripper_joint_3_dummy" type="fixed">
          <origin xyz="0.013553 0.0025081 0.0002778" rpy="0 0 0"/>
          <parent link="right_gripper_link_2"/>
          <child link="right_gripper_link_3_dummy"/>
        </joint> -->
  <joint name="right_gripper_joint_4" type="fixed">
    <origin rpy="0 0 0" xyz="0.0047151 -0.0208481 -5.8e-06"/>
    <parent link="right_gripper_link_2"/>
    <child link="right_gripper_link_4"/>
    <axis xyz="0 0 1.0"/>
    <limit effort="1" velocity="1"/>
  </joint>
  <joint name="right_gripper_joint_5" type="fixed">
    <origin rpy="0 0 0" xyz="0.0385916 -0.0103143 1.6e-06"/>
    <parent link="right_gripper_link_4"/>
    <child link="right_gripper_link_5"/>
    <axis xyz="0 0 1.0"/>
    <limit effort="1" velocity="1"/>
  </joint>
  <joint name="right_gripper_joint_6" type="fixed">
    <origin rpy="0 0 0" xyz="0.0059278 0.0133069 0"/>
    <parent link="right_gripper_link_5"/>
    <child link="right_gripper_link_6"/>
    <axis xyz="0 0 1.0"/>
    <limit effort="1" velocity="1"/>
  </joint>
  <joint name="right_gripper_joint_7" type="fixed">
    <origin rpy="0 0 0" xyz="-0.0156955 0.0176295 0"/>
    <parent link="right_gripper_link_6"/>
    <child link="right_gripper_link_7"/>
    <axis xyz="0 0 1.0"/>
    <limit effort="1" velocity="1"/>
  </joint>
  <joint name="gripper_joint_t" type="fixed">
    <origin rpy="0 0 0" xyz="0.124 0 -0.039"/>
    <parent link="gripper_link"/>
    <child link="gripper_t_link"/>
  </joint>




   <!-- <link name="front_left_wheel_link">
    <inertial>
      <origin rpy="0 0 0" xyz="-0.0002104 5.31e-05 -0.0004148"/>
      <mass value="0.162"/>
      <inertia ixx="0.0002" ixy="0" ixz="0" iyy="0.00012" iyz="0" izz="0.00012"/>
    </inertial>
    <visual name="front_left_wheel_bolt">
      <origin rpy="0 0 0" xyz="0 0.0145 0"/>
      <geometry>
        <cylinder length="0.001" radius="0.007"/>
      </geometry>
      <material name="bolt">
        <color rgba="0.45 0.15 0.0 1.0"/>
      </material>
    </visual>
    <visual name="front_left_wheel">
      <origin rpy="0 0 1.5707963267948966" xyz="0 0 0"/>
      <geometry>
        <mesh filename="../meshes/mecanum_wheel.dae" scale="0.6 0.6 0.6"/>
      </geometry>
      <material name="wheel_plastic"/>
    </visual>
    <collision name="front_left_wheel">
      <origin rpy="0 0 1.5707963267948966" xyz="0 0 0"/>
      <geometry>
        <mesh filename="../meshes/mecanum_wheel.stl" scale="0.6 0.6 0.6"/>
      </geometry>
      <material name="collision">
        <color rgba="0.8 0.0 0.0 1.0"/>
      </material>
    </collision>
  </link>  

  

  <link name="front_right_wheel_link">
    <inertial>
      <origin rpy="0 0 0" xyz="-0.0002104 5.31e-05 -0.0004148"/>
      <mass value="0.162"/>
      <inertia ixx="0.0002" ixy="0" ixz="0" iyy="0.00012" iyz="0" izz="0.00012"/>
    </inertial>
    <visual name="front_right_wheel_bolt">
      <origin rpy="1.5707963267948966 0 0" xyz="0 -0.0145 0"/>
      <geometry>
        <cylinder length="0.001" radius="0.007"/>
      </geometry>
      <material name="bolt">
        <color rgba="0.45 0.15 0.0 1.0"/>
      </material>
    </visual>
    <visual name="front_right_wheel">
      <origin rpy="0 0 1.5707963267948966" xyz="0 0 0"/>
      <geometry>
        <mesh filename="../meshes/mecanum_wheel.dae" scale="0.6 0.6 0.6"/>
      </geometry>
      <material name="wheel_plastic"/>
    </visual>
    <collision name="front_right_wheel">
      <origin rpy="0 0 1.5707963267948966" xyz="0 0 0"/>
      <geometry>
        <mesh filename="../meshes/mecanum_wheel.stl" scale="0.6 0.6 0.6"/>
      </geometry>
      <material name="collision">
        <color rgba="0.8 0.0 0.0 1.0"/>
      </material>
    </collision>
  </link>


  <link name="rear_left_wheel_link">
    <inertial>
      <origin rpy="0 0 0" xyz="-0.0002104 5.31e-05 -0.0004148"/>
      <mass value="0.162"/>
      <inertia ixx="0.0002" ixy="0" ixz="0" iyy="0.00012" iyz="0" izz="0.00012"/>
    </inertial>
    <visual name="rear_left_wheel_bolt">
      <origin rpy="1.5707963267948966 0 0" xyz="0 0.0145 0"/>
      <geometry>
        <cylinder length="0.001" radius="0.007"/>
      </geometry>
      <material name="bolt">
        <color rgba="0.45 0.15 0.0 1.0"/>
      </material>
    </visual>
    <visual name="rear_left_wheel">
      <origin rpy="0 0 1.5707963267948966" xyz="0 0 0"/>
      <geometry>
        <mesh filename="../meshes/mecanum_wheel.dae" scale="0.6 0.6 0.6"/>
      </geometry>
      <material name="wheel_plastic"/>
    </visual>
    <collision name="rear_left_wheel">
      <origin rpy="0 0 1.5707963267948966" xyz="0 0 0"/>
      <geometry>
        <mesh filename="../meshes/mecanum_wheel.stl" scale="0.6 0.6 0.6"/>
      </geometry>
      <material name="collision">
        <color rgba="0.8 0.0 0.0 1.0"/>
      </material>
    </collision>
  </link>
  

  <link name="rear_right_wheel_link">
    <inertial>
      <origin rpy="0 0 0" xyz="-0.0002104 5.31e-05 -0.0004148"/>
      <mass value="0.162"/>
      <inertia ixx="0.0002" ixy="0" ixz="0" iyy="0.00012" iyz="0" izz="0.00012"/>
    </inertial>
    <visual name="rear_right_wheel_bolt">
      <origin rpy="1.5707963267948966 0 0" xyz="0 -0.0145 0"/>
      <geometry>
        <cylinder length="0.001" radius="0.007"/>
      </geometry>
      <material name="bolt">
        <color rgba="0.45 0.15 0.0 1.0"/>
      </material>
    </visual>
    <visual name="rear_right_wheel">
      <origin rpy="0 0 1.5707963267948966" xyz="0 0 0"/>
      <geometry>
        <mesh filename="../meshes/mecanum_wheel.dae" scale="0.6 0.6 0.6"/>
      </geometry>
      <material name="wheel_plastic"/>
    </visual>
    <collision name="rear_right_wheel">
      <origin rpy="0 0 1.5707963267948966" xyz="0 0 0"/>
      <geometry>
        <mesh filename="../meshes/mecanum_wheel.stl" scale="0.6 0.6 0.6"/>
      </geometry>
      <material name="collision">
        <color rgba="0.8 0.0 0.0 1.0"/>
      </material>
    </collision>
  </link>-->



  <joint name="front_left_wheel_joint" type="continuous">
    <origin rpy="0 0 1.5707963267948966" xyz="0.1 0.1 0.01535"/>
    <parent link="chassis_base_link"/>
    <child link="front_left_wheel_link"/>
    <axis xyz="1 0 0"/>
    <limit effort="30" velocity="10"/>
  </joint>
  <joint name="front_right_wheel_joint" type="continuous">
    <origin rpy="0 0 1.5707963267948966" xyz="0.1 -0.1 0.01535"/>
    <parent link="chassis_base_link"/>
    <child link="front_right_wheel_link"/>
    <axis xyz="1 0 0"/>
    <limit effort="30" velocity="10"/>
  </joint>
  <joint name="rear_left_wheel_joint" type="continuous">
    <origin rpy="0 0 1.5707963267948966" xyz="-0.1 0.1 0.01535"/>
    <parent link="chassis_base_link"/>
    <child link="rear_left_wheel_link"/>
    <axis xyz="1 0 0"/>
    <limit effort="30" velocity="10"/>
  </joint>
  <joint name="rear_right_wheel_joint" type="continuous">
    <origin rpy="0 0 1.5707963267948966" xyz="-0.1 -0.1 0.01535"/>
    <parent link="chassis_base_link"/>
    <child link="rear_right_wheel_link"/>
    <axis xyz="1 0 0"/>
    <limit effort="30" velocity="10"/>
  </joint>




  


<link name="front_left_wheel_link">
    <visual>
      <origin rpy="0 0 0" xyz="0 0 0"/>
      <geometry>
        <mesh filename="../meshes/mecanum_wheel.dae" scale="0.6 0.6 0.6"/>
      </geometry>
    </visual>
    <collision>
      <origin rpy="0 0 0" xyz="0 0 0"/>
      <geometry>
        <mesh filename="../meshes/mecanum_wheel.stl" scale="0.6 0.6 0.6"/>
      </geometry>
    </collision>
    <inertial>
      <origin xyz="0 0 0" />
      <mass value="2.0"/>
      <inertia ixx="0.042025" ixy="0.0" ixz="0.0" iyy="0.024279" iyz="0.0" izz="0.024279"/>
    </inertial>
  </link>
  <link name="front_left_roller15_link">
    <visual>
      <origin rpy="0 0 0" xyz="0 0 0"/>
      <geometry>
        <mesh filename="../meshes/mecanum_roller.dae" scale="0.6 0.6 0.6"/>
      </geometry>
    </visual>
    <collision>
      <geometry>
        <mesh filename="../meshes/mecanum_roller.stl" scale="0.6 0.6 0.6"/>
      </geometry>
    </collision>
    <inertial>
      <origin xyz="0 0 0"/>
      <mass value="0.3"/>
      <inertia ixx="0.00024000" ixy="0.0" ixz="0.0" iyy="0.00076000" iyz="0.0" izz="0.00076000"/>
    </inertial>
  </link>
  <joint name="front_left_roller15_joint" type="continuous">
    <origin rpy="0.5619350361043127 -0.7022987807291682 0.38630030387691144" xyz="0 0.04905739107540767 -0.021841757733170465"/>
    <axis xyz="1 0 0"/>
    <parent link="front_left_wheel_link"/>
    <child link="front_left_roller15_link"/>
    <dynamics damping="0.001" friction="0.0001"/>
  </joint>
  <link name="front_left_roller14_link">
    <visual>
      <origin rpy="0 0 0" xyz="0 0 0"/>
      <geometry>
        <mesh filename="../meshes/mecanum_roller.dae" scale="0.6 0.6 0.6"/>
      </geometry>
    </visual>
    <collision>
      <geometry>
        <mesh filename="../meshes/mecanum_roller.stl" scale="0.6 0.6 0.6"/>
      </geometry>
    </collision>
    <inertial>
      <origin xyz="0 0 0"/>
      <mass value="0.3"/>
      <inertia ixx="0.00024000" ixy="0.0" ixz="0.0" iyy="0.00076000" iyz="0.0" izz="0.00076000"/>
    </inertial>
  </link>
  <joint name="front_left_roller14_joint" type="continuous">
    <origin rpy="1.0038406803226874 -0.4928592704898482 0.6390993414905143" xyz="0 0.03593231356147066 -0.039906877128136085"/>
    <axis xyz="1 0 0"/>
    <parent link="front_left_wheel_link"/>
    <child link="front_left_roller14_link"/>
    <dynamics damping="0.001" friction="0.0001"/>
  </joint>
  <link name="front_left_roller13_link">
    <visual>
      <origin rpy="0 0 0" xyz="0 0 0"/>
      <geometry>
        <mesh filename="../meshes/mecanum_roller.dae" scale="0.6 0.6 0.6"/>
      </geometry>
    </visual>
    <collision>
      <geometry>
        <mesh filename="../meshes/mecanum_roller.stl" scale="0.6 0.6 0.6"/>
      </geometry>
    </collision>
    <inertial>
      <origin xyz="0 0 0"/>
      <mass value="0.3"/>
      <inertia ixx="0.00024000" ixy="0.0" ixz="0.0" iyy="0.00076000" iyz="0.0" izz="0.00076000"/>
    </inertial>
  </link>
  <joint name="front_left_roller13_joint" type="continuous">
    <origin rpy="1.3449626171032882 -0.22028527385474703 0.7603177925108144" xyz="0 0.01659421259793466 -0.051071734925049746"/>
    <axis xyz="1 0 0"/>
    <parent link="front_left_wheel_link"/>
    <child link="front_left_roller13_link"/>
    <dynamics damping="0.001" friction="0.0001"/>
  </joint>
  <link name="front_left_roller12_link">
    <visual>
      <origin rpy="0 0 0" xyz="0 0 0"/>
      <geometry>
        <mesh filename="../meshes/mecanum_roller.dae" scale="0.6 0.6 0.6"/>
      </geometry>
    </visual>
    <collision>
      <geometry>
        <mesh filename="../meshes/mecanum_roller.stl" scale="0.6 0.6 0.6"/>
      </geometry>
    </collision>
    <inertial>
      <origin xyz="0 0 0"/>
      <mass value="0.3"/>
      <inertia ixx="0.00024000" ixy="0.0" ixz="0.0" iyy="0.00076000" iyz="0.0" izz="0.00076000"/>
    </inertial>
  </link>
  <joint name="front_left_roller12_joint" type="continuous">
    <origin rpy="-1.4966127917301506 0.07398025001120935 0.7826515949744619" xyz="0 -0.0056131784774729855 -0.05340582578127628"/>
    <axis xyz="1 0 0"/>
    <parent link="front_left_wheel_link"/>
    <child link="front_left_roller12_link"/>
    <dynamics damping="0.001" friction="0.0001"/>
  </joint>
  <link name="front_left_roller11_link">
    <visual>
      <origin rpy="0 0 0" xyz="0 0 0"/>
      <geometry>
        <mesh filename="../meshes/mecanum_roller.dae" scale="0.6 0.6 0.6"/>
      </geometry>
    </visual>
    <collision>
      <geometry>
        <mesh filename="../meshes/mecanum_roller.stl" scale="0.6 0.6 0.6"/>
      </geometry>
    </collision>
    <inertial>
      <origin xyz="0 0 0"/>
      <mass value="0.3"/>
      <inertia ixx="0.00024000" ixy="0.0" ixz="0.0" iyy="0.00076000" iyz="0.0" izz="0.00076000"/>
    </inertial>
  </link>
  <joint name="front_left_roller11_joint" type="continuous">
    <origin rpy="-1.1831996401397156 0.3613671239067081 0.7137243789447655" xyz="0 -0.026850000000000023 -0.04650556418322434"/>
    <axis xyz="1 0 0"/>
    <parent link="front_left_wheel_link"/>
    <child link="front_left_roller11_link"/>
    <dynamics damping="0.001" friction="0.0001"/>
  </joint>
  <link name="front_left_roller10_link">
    <visual>
      <origin rpy="0 0 0" xyz="0 0 0"/>
      <geometry>
        <mesh filename="../meshes/mecanum_roller.dae" scale="0.6 0.6 0.6"/>
      </geometry>
    </visual>
    <collision>
      <geometry>
        <mesh filename="../meshes/mecanum_roller.stl" scale="0.6 0.6 0.6"/>
      </geometry>
    </collision>
    <inertial>
      <origin xyz="0 0 0"/>
      <mass value="0.3"/>
      <inertia ixx="0.00024000" ixy="0.0" ixz="0.0" iyy="0.00076000" iyz="0.0" izz="0.00076000"/>
    </inertial>
  </link>
  <joint name="front_left_roller10_joint" type="continuous">
    <origin rpy="-0.7989541677433551 0.6090169187607924 0.5313896516603533" xyz="0 -0.04344421259793468 -0.0315640680481058"/>
    <axis xyz="1 0 0"/>
    <parent link="front_left_wheel_link"/>
    <child link="front_left_roller10_link"/>
    <dynamics damping="0.001" friction="0.0001"/>
  </joint>
  <link name="front_left_roller9_link">
    <visual>
      <origin rpy="0 0 0" xyz="0 0 0"/>
      <geometry>
        <mesh filename="../meshes/mecanum_roller.dae" scale="0.6 0.6 0.6"/>
      </geometry>
    </visual>
    <collision>
      <geometry>
        <mesh filename="../meshes/mecanum_roller.stl" scale="0.6 0.6 0.6"/>
      </geometry>
    </collision>
    <inertial>
      <origin xyz="0 0 0"/>
      <mass value="0.3"/>
      <inertia ixx="0.00024000" ixy="0.0" ixz="0.0" iyy="0.00076000" iyz="0.0" izz="0.00076000"/>
    </inertial>
  </link>
  <joint name="front_left_roller9_joint" type="continuous">
    <origin rpy="-0.29200750368454736 0.7637777909460687 0.20499125187874406" xyz="0 -0.052526526159405354 -0.011164857796913686"/>
    <axis xyz="1 0 0"/>
    <parent link="front_left_wheel_link"/>
    <child link="front_left_roller9_link"/>
    <dynamics damping="0.001" friction="0.0001"/>
  </joint>
  <link name="front_left_roller8_link">
    <visual>
      <origin rpy="0 0 0" xyz="0 0 0"/>
      <geometry>
        <mesh filename="../meshes/mecanum_roller.dae" scale="0.6 0.6 0.6"/>
      </geometry>
    </visual>
    <collision>
      <geometry>
        <mesh filename="../meshes/mecanum_roller.stl" scale="0.6 0.6 0.6"/>
      </geometry>
    </collision>
    <inertial>
      <origin xyz="0 0 0"/>
      <mass value="0.3"/>
      <inertia ixx="0.00024000" ixy="0.0" ixz="0.0" iyy="0.00076000" iyz="0.0" izz="0.00076000"/>
    </inertial>
  </link>
  <joint name="front_left_roller8_joint" type="continuous">
    <origin rpy="0.2920075036845471 0.7637777909460687 -0.20499125187874387" xyz="0 -0.05252652615940536 0.011164857796913676"/>
    <axis xyz="1 0 0"/>
    <parent link="front_left_wheel_link"/>
    <child link="front_left_roller8_link"/>
    <dynamics damping="0.001" friction="0.0001"/>
  </joint>
  <link name="front_left_roller7_link">
    <visual>
      <origin rpy="0 0 0" xyz="0 0 0"/>
      <geometry>
        <mesh filename="../meshes/mecanum_roller.dae" scale="0.6 0.6 0.6"/>
      </geometry>
    </visual>
    <collision>
      <geometry>
        <mesh filename="../meshes/mecanum_roller.stl" scale="0.6 0.6 0.6"/>
      </geometry>
    </collision>
    <inertial>
      <origin xyz="0 0 0"/>
      <mass value="0.3"/>
      <inertia ixx="0.00024000" ixy="0.0" ixz="0.0" iyy="0.00076000" iyz="0.0" izz="0.00076000"/>
    </inertial>
  </link>
  <joint name="front_left_roller7_joint" type="continuous">
    <origin rpy="0.7989541677433554 0.6090169187607923 -0.5313896516603536" xyz="0 -0.04344421259793467 0.03156406804810581"/>
    <axis xyz="1 0 0"/>
    <parent link="front_left_wheel_link"/>
    <child link="front_left_roller7_link"/>
    <dynamics damping="0.001" friction="0.0001"/>
  </joint>
  <link name="front_left_roller6_link">
    <visual>
      <origin rpy="0 0 0" xyz="0 0 0"/>
      <geometry>
        <mesh filename="../meshes/mecanum_roller.dae" scale="0.6 0.6 0.6"/>
      </geometry>
    </visual>
    <collision>
      <geometry>
        <mesh filename="../meshes/mecanum_roller.stl" scale="0.6 0.6 0.6"/>
      </geometry>
    </collision>
    <inertial>
      <origin xyz="0 0 0"/>
      <mass value="0.3"/>
      <inertia ixx="0.00024000" ixy="0.0" ixz="0.0" iyy="0.00076000" iyz="0.0" izz="0.00076000"/>
    </inertial>
  </link>
  <joint name="front_left_roller6_joint" type="continuous">
    <origin rpy="1.1831996401397162 0.3613671239067076 -0.7137243789447657" xyz="0 -0.026849999999999985 0.04650556418322435"/>
    <axis xyz="1 0 0"/>
    <parent link="front_left_wheel_link"/>
    <child link="front_left_roller6_link"/>
    <dynamics damping="0.001" friction="0.0001"/>
  </joint>
  <link name="front_left_roller5_link">
    <visual>
      <origin rpy="0 0 0" xyz="0 0 0"/>
      <geometry>
        <mesh filename="../meshes/mecanum_roller.dae" scale="0.6 0.6 0.6"/>
      </geometry>
    </visual>
    <collision>
      <geometry>
        <mesh filename="../meshes/mecanum_roller.stl" scale="0.6 0.6 0.6"/>
      </geometry>
    </collision>
    <inertial>
      <origin xyz="0 0 0"/>
      <mass value="0.3"/>
      <inertia ixx="0.00024000" ixy="0.0" ixz="0.0" iyy="0.00076000" iyz="0.0" izz="0.00076000"/>
    </inertial>
  </link>
  <joint name="front_left_roller5_joint" type="continuous">
    <origin rpy="1.4966127917301504 0.07398025001120949 -0.7826515949744619" xyz="0 -0.005613178477472996 0.05340582578127627"/>
    <axis xyz="1 0 0"/>
    <parent link="front_left_wheel_link"/>
    <child link="front_left_roller5_link"/>
    <dynamics damping="0.001" friction="0.0001"/>
  </joint>
  <link name="front_left_roller4_link">
    <visual>
      <origin rpy="0 0 0" xyz="0 0 0"/>
      <geometry>
        <mesh filename="../meshes/mecanum_roller.dae" scale="0.6 0.6 0.6"/>
      </geometry>
    </visual>
    <collision>
      <geometry>
        <mesh filename="../meshes/mecanum_roller.stl" scale="0.6 0.6 0.6"/>
      </geometry>
    </collision>
    <inertial>
      <origin xyz="0 0 0"/>
      <mass value="0.3"/>
      <inertia ixx="0.00024000" ixy="0.0" ixz="0.0" iyy="0.00076000" iyz="0.0" izz="0.00076000"/>
    </inertial>
  </link>
  <joint name="front_left_roller4_joint" type="continuous">
    <origin rpy="-1.3449626171032882 -0.2202852738547472 -0.7603177925108144" xyz="0 0.016594212597934678 0.051071734925049746"/>
    <axis xyz="1 0 0"/>
    <parent link="front_left_wheel_link"/>
    <child link="front_left_roller4_link"/>
    <dynamics damping="0.001" friction="0.0001"/>
  </joint>
  <link name="front_left_roller3_link">
    <visual>
      <origin rpy="0 0 0" xyz="0 0 0"/>
      <geometry>
        <mesh filename="../meshes/mecanum_roller.dae" scale="0.6 0.6 0.6"/>
      </geometry>
    </visual>
    <collision>
      <geometry>
        <mesh filename="../meshes/mecanum_roller.stl" scale="0.6 0.6 0.6"/>
      </geometry>
    </collision>
    <inertial>
      <origin xyz="0 0 0"/>
      <mass value="0.3"/>
      <inertia ixx="0.00024000" ixy="0.0" ixz="0.0" iyy="0.00076000" iyz="0.0" izz="0.00076000"/>
    </inertial>
  </link>
  <joint name="front_left_roller3_joint" type="continuous">
    <origin rpy="-1.0038406803226867 -0.4928592704898485 -0.6390993414905141" xyz="0 0.03593231356147068 0.03990687712813607"/>
    <axis xyz="1 0 0"/>
    <parent link="front_left_wheel_link"/>
    <child link="front_left_roller3_link"/>
    <dynamics damping="0.001" friction="0.0001"/>
  </joint>
  <link name="front_left_roller2_link">
    <visual>
      <origin rpy="0 0 0" xyz="0 0 0"/>
      <geometry>
        <mesh filename="../meshes/mecanum_roller.dae" scale="0.6 0.6 0.6"/>
      </geometry>
    </visual>
    <collision>
      <geometry>
        <mesh filename="../meshes/mecanum_roller.stl" scale="0.6 0.6 0.6"/>
      </geometry>
    </collision>
    <inertial>
      <origin xyz="0 0 0"/>
      <mass value="0.3"/>
      <inertia ixx="0.00024000" ixy="0.0" ixz="0.0" iyy="0.00076000" iyz="0.0" izz="0.00076000"/>
    </inertial>
  </link>
  <joint name="front_left_roller2_joint" type="continuous">
    <origin rpy="-0.5619350361043128 -0.702298780729168 -0.3863003038769115" xyz="0 0.049057391075407665 0.02184175773317047"/>
    <axis xyz="1 0 0"/>
    <parent link="front_left_wheel_link"/>
    <child link="front_left_roller2_link"/>
    <dynamics damping="0.001" friction="0.0001"/>
  </joint>
  <link name="front_left_roller1_link">
    <visual>
      <origin rpy="0 0 0" xyz="0 0 0"/>
      <geometry>
        <mesh filename="../meshes/mecanum_roller.dae" scale="0.6 0.6 0.6"/>
      </geometry>
    </visual>
    <collision>
      <geometry>
        <mesh filename="../meshes/mecanum_roller.stl" scale="0.6 0.6 0.6"/>
      </geometry>
    </collision>
    <inertial>
      <origin xyz="0 0 0"/>
      <mass value="0.3"/>
      <inertia ixx="0.00024000" ixy="0.0" ixz="0.0" iyy="0.00076000" iyz="0.0" izz="0.00076000"/>
    </inertial>
  </link>
  <joint name="front_left_roller1_joint" type="continuous">
    <origin rpy="-0.0 -0.7853981633974482 -0.0" xyz="0 0.0537 0.0"/>
    <axis xyz="1 0 0"/>
    <parent link="front_left_wheel_link"/>
    <child link="front_left_roller1_link"/>
    <dynamics damping="0.001" friction="0.0001"/>
  </joint>
  

<link name="front_right_wheel_link">
    <visual>
      <origin rpy="0 0 0" xyz="0 0 0"/>
      <geometry>
        <mesh filename="../meshes/mecanum_wheel.dae" scale="0.6 0.6 0.6"/>
      </geometry>
    </visual>
    <collision>
      <origin rpy="0 0 0" xyz="0 0 0"/>
      <geometry>
        <mesh filename="../meshes/mecanum_wheel.stl" scale="0.6 0.6 0.6"/>
      </geometry>
    </collision>
    <inertial>
      <origin xyz="0 0 0" />
      <mass value="2.0"/>
      <inertia ixx="0.042025" ixy="0.0" ixz="0.0" iyy="0.024279" iyz="0.0" izz="0.024279"/>
    </inertial>
  </link>
  <link name="front_right_roller15_link">
    <visual>
      <origin rpy="0 0 0" xyz="0 0 0"/>
      <geometry>
        <mesh filename="../meshes/mecanum_roller.dae" scale="0.6 0.6 0.6"/>
      </geometry>
    </visual>
    <collision>
      <geometry>
        <mesh filename="../meshes/mecanum_roller.stl" scale="0.6 0.6 0.6"/>
      </geometry>
    </collision>
    <inertial>
      <origin xyz="0 0 0"/>
      <mass value="0.3"/>
      <inertia ixx="0.00024000" ixy="0.0" ixz="0.0" iyy="0.00076000" iyz="0.0" izz="0.00076000"/>
    </inertial>
  </link>
  <joint name="front_right_roller15_joint" type="continuous">
    <origin rpy="0.5619350361043127 0.7022987807291682 -0.38630030387691144" xyz="0 0.04905739107540767 -0.021841757733170465"/>
    <axis xyz="1 0 0"/>
    <parent link="front_right_wheel_link"/>
    <child link="front_right_roller15_link"/>
    <dynamics damping="0.001" friction="0.0001"/>
  </joint>
  <link name="front_right_roller14_link">
    <visual>
      <origin rpy="0 0 0" xyz="0 0 0"/>
      <geometry>
        <mesh filename="../meshes/mecanum_roller.dae" scale="0.6 0.6 0.6"/>
      </geometry>
    </visual>
    <collision>
      <geometry>
        <mesh filename="../meshes/mecanum_roller.stl" scale="0.6 0.6 0.6"/>
      </geometry>
    </collision>
    <inertial>
      <origin xyz="0 0 0"/>
      <mass value="0.3"/>
      <inertia ixx="0.00024000" ixy="0.0" ixz="0.0" iyy="0.00076000" iyz="0.0" izz="0.00076000"/>
    </inertial>
  </link>
  <joint name="front_right_roller14_joint" type="continuous">
    <origin rpy="1.0038406803226874 0.4928592704898482 -0.6390993414905143" xyz="0 0.03593231356147066 -0.039906877128136085"/>
    <axis xyz="1 0 0"/>
    <parent link="front_right_wheel_link"/>
    <child link="front_right_roller14_link"/>
    <dynamics damping="0.001" friction="0.0001"/>
  </joint>
  <link name="front_right_roller13_link">
    <visual>
      <origin rpy="0 0 0" xyz="0 0 0"/>
      <geometry>
        <mesh filename="../meshes/mecanum_roller.dae" scale="0.6 0.6 0.6"/>
      </geometry>
    </visual>
    <collision>
      <geometry>
        <mesh filename="../meshes/mecanum_roller.stl" scale="0.6 0.6 0.6"/>
      </geometry>
    </collision>
    <inertial>
      <origin xyz="0 0 0"/>
      <mass value="0.3"/>
      <inertia ixx="0.00024000" ixy="0.0" ixz="0.0" iyy="0.00076000" iyz="0.0" izz="0.00076000"/>
    </inertial>
  </link>
  <joint name="front_right_roller13_joint" type="continuous">
    <origin rpy="1.3449626171032882 0.22028527385474703 -0.7603177925108144" xyz="0 0.01659421259793466 -0.051071734925049746"/>
    <axis xyz="1 0 0"/>
    <parent link="front_right_wheel_link"/>
    <child link="front_right_roller13_link"/>
    <dynamics damping="0.001" friction="0.0001"/>
  </joint>
  <link name="front_right_roller12_link">
    <visual>
      <origin rpy="0 0 0" xyz="0 0 0"/>
      <geometry>
        <mesh filename="../meshes/mecanum_roller.dae" scale="0.6 0.6 0.6"/>
      </geometry>
    </visual>
    <collision>
      <geometry>
        <mesh filename="../meshes/mecanum_roller.stl" scale="0.6 0.6 0.6"/>
      </geometry>
    </collision>
    <inertial>
      <origin xyz="0 0 0"/>
      <mass value="0.3"/>
      <inertia ixx="0.00024000" ixy="0.0" ixz="0.0" iyy="0.00076000" iyz="0.0" izz="0.00076000"/>
    </inertial>
  </link>
  <joint name="front_right_roller12_joint" type="continuous">
    <origin rpy="-1.4966127917301506 -0.07398025001120935 -0.7826515949744619" xyz="0 -0.0056131784774729855 -0.05340582578127628"/>
    <axis xyz="1 0 0"/>
    <parent link="front_right_wheel_link"/>
    <child link="front_right_roller12_link"/>
    <dynamics damping="0.001" friction="0.0001"/>
  </joint>
  <link name="front_right_roller11_link">
    <visual>
      <origin rpy="0 0 0" xyz="0 0 0"/>
      <geometry>
        <mesh filename="../meshes/mecanum_roller.dae" scale="0.6 0.6 0.6"/>
      </geometry>
    </visual>
    <collision>
      <geometry>
        <mesh filename="../meshes/mecanum_roller.stl" scale="0.6 0.6 0.6"/>
      </geometry>
    </collision>
    <inertial>
      <origin xyz="0 0 0"/>
      <mass value="0.3"/>
      <inertia ixx="0.00024000" ixy="0.0" ixz="0.0" iyy="0.00076000" iyz="0.0" izz="0.00076000"/>
    </inertial>
  </link>
  <joint name="front_right_roller11_joint" type="continuous">
    <origin rpy="-1.1831996401397156 -0.3613671239067081 -0.7137243789447655" xyz="0 -0.026850000000000023 -0.04650556418322434"/>
    <axis xyz="1 0 0"/>
    <parent link="front_right_wheel_link"/>
    <child link="front_right_roller11_link"/>
    <dynamics damping="0.001" friction="0.0001"/>
  </joint>
  <link name="front_right_roller10_link">
    <visual>
      <origin rpy="0 0 0" xyz="0 0 0"/>
      <geometry>
        <mesh filename="../meshes/mecanum_roller.dae" scale="0.6 0.6 0.6"/>
      </geometry>
    </visual>
    <collision>
      <geometry>
        <mesh filename="../meshes/mecanum_roller.stl" scale="0.6 0.6 0.6"/>
      </geometry>
    </collision>
    <inertial>
      <origin xyz="0 0 0"/>
      <mass value="0.3"/>
      <inertia ixx="0.00024000" ixy="0.0" ixz="0.0" iyy="0.00076000" iyz="0.0" izz="0.00076000"/>
    </inertial>
  </link>
  <joint name="front_right_roller10_joint" type="continuous">
    <origin rpy="-0.7989541677433551 -0.6090169187607924 -0.5313896516603533" xyz="0 -0.04344421259793468 -0.0315640680481058"/>
    <axis xyz="1 0 0"/>
    <parent link="front_right_wheel_link"/>
    <child link="front_right_roller10_link"/>
    <dynamics damping="0.001" friction="0.0001"/>
  </joint>
  <link name="front_right_roller9_link">
    <visual>
      <origin rpy="0 0 0" xyz="0 0 0"/>
      <geometry>
        <mesh filename="../meshes/mecanum_roller.dae" scale="0.6 0.6 0.6"/>
      </geometry>
    </visual>
    <collision>
      <geometry>
        <mesh filename="../meshes/mecanum_roller.stl" scale="0.6 0.6 0.6"/>
      </geometry>
    </collision>
    <inertial>
      <origin xyz="0 0 0"/>
      <mass value="0.3"/>
      <inertia ixx="0.00024000" ixy="0.0" ixz="0.0" iyy="0.00076000" iyz="0.0" izz="0.00076000"/>
    </inertial>
  </link>
  <joint name="front_right_roller9_joint" type="continuous">
    <origin rpy="-0.29200750368454736 -0.7637777909460687 -0.20499125187874406" xyz="0 -0.052526526159405354 -0.011164857796913686"/>
    <axis xyz="1 0 0"/>
    <parent link="front_right_wheel_link"/>
    <child link="front_right_roller9_link"/>
    <dynamics damping="0.001" friction="0.0001"/>
  </joint>
  <link name="front_right_roller8_link">
    <visual>
      <origin rpy="0 0 0" xyz="0 0 0"/>
      <geometry>
        <mesh filename="../meshes/mecanum_roller.dae" scale="0.6 0.6 0.6"/>
      </geometry>
    </visual>
    <collision>
      <geometry>
        <mesh filename="../meshes/mecanum_roller.stl" scale="0.6 0.6 0.6"/>
      </geometry>
    </collision>
    <inertial>
      <origin xyz="0 0 0"/>
      <mass value="0.3"/>
      <inertia ixx="0.00024000" ixy="0.0" ixz="0.0" iyy="0.00076000" iyz="0.0" izz="0.00076000"/>
    </inertial>
  </link>
  <joint name="front_right_roller8_joint" type="continuous">
    <origin rpy="0.2920075036845471 -0.7637777909460687 0.20499125187874387" xyz="0 -0.05252652615940536 0.011164857796913676"/>
    <axis xyz="1 0 0"/>
    <parent link="front_right_wheel_link"/>
    <child link="front_right_roller8_link"/>
    <dynamics damping="0.001" friction="0.0001"/>
  </joint>
  <link name="front_right_roller7_link">
    <visual>
      <origin rpy="0 0 0" xyz="0 0 0"/>
      <geometry>
        <mesh filename="../meshes/mecanum_roller.dae" scale="0.6 0.6 0.6"/>
      </geometry>
    </visual>
    <collision>
      <geometry>
        <mesh filename="../meshes/mecanum_roller.stl" scale="0.6 0.6 0.6"/>
      </geometry>
    </collision>
    <inertial>
      <origin xyz="0 0 0"/>
      <mass value="0.3"/>
      <inertia ixx="0.00024000" ixy="0.0" ixz="0.0" iyy="0.00076000" iyz="0.0" izz="0.00076000"/>
    </inertial>
  </link>
  <joint name="front_right_roller7_joint" type="continuous">
    <origin rpy="0.7989541677433554 -0.6090169187607923 0.5313896516603536" xyz="0 -0.04344421259793467 0.03156406804810581"/>
    <axis xyz="1 0 0"/>
    <parent link="front_right_wheel_link"/>
    <child link="front_right_roller7_link"/>
    <dynamics damping="0.001" friction="0.0001"/>
  </joint>
  <link name="front_right_roller6_link">
    <visual>
      <origin rpy="0 0 0" xyz="0 0 0"/>
      <geometry>
        <mesh filename="../meshes/mecanum_roller.dae" scale="0.6 0.6 0.6"/>
      </geometry>
    </visual>
    <collision>
      <geometry>
        <mesh filename="../meshes/mecanum_roller.stl" scale="0.6 0.6 0.6"/>
      </geometry>
    </collision>
    <inertial>
      <origin xyz="0 0 0"/>
      <mass value="0.3"/>
      <inertia ixx="0.00024000" ixy="0.0" ixz="0.0" iyy="0.00076000" iyz="0.0" izz="0.00076000"/>
    </inertial>
  </link>
  <joint name="front_right_roller6_joint" type="continuous">
    <origin rpy="1.1831996401397162 -0.3613671239067076 0.7137243789447657" xyz="0 -0.026849999999999985 0.04650556418322435"/>
    <axis xyz="1 0 0"/>
    <parent link="front_right_wheel_link"/>
    <child link="front_right_roller6_link"/>
    <dynamics damping="0.001" friction="0.0001"/>
  </joint>
  <link name="front_right_roller5_link">
    <visual>
      <origin rpy="0 0 0" xyz="0 0 0"/>
      <geometry>
        <mesh filename="../meshes/mecanum_roller.dae" scale="0.6 0.6 0.6"/>
      </geometry>
    </visual>
    <collision>
      <geometry>
        <mesh filename="../meshes/mecanum_roller.stl" scale="0.6 0.6 0.6"/>
      </geometry>
    </collision>
    <inertial>
      <origin xyz="0 0 0"/>
      <mass value="0.3"/>
      <inertia ixx="0.00024000" ixy="0.0" ixz="0.0" iyy="0.00076000" iyz="0.0" izz="0.00076000"/>
    </inertial>
  </link>
  <joint name="front_right_roller5_joint" type="continuous">
    <origin rpy="1.4966127917301504 -0.07398025001120949 0.7826515949744619" xyz="0 -0.005613178477472996 0.05340582578127627"/>
    <axis xyz="1 0 0"/>
    <parent link="front_right_wheel_link"/>
    <child link="front_right_roller5_link"/>
    <dynamics damping="0.001" friction="0.0001"/>
  </joint>
  <link name="front_right_roller4_link">
    <visual>
      <origin rpy="0 0 0" xyz="0 0 0"/>
      <geometry>
        <mesh filename="../meshes/mecanum_roller.dae" scale="0.6 0.6 0.6"/>
      </geometry>
    </visual>
    <collision>
      <geometry>
        <mesh filename="../meshes/mecanum_roller.stl" scale="0.6 0.6 0.6"/>
      </geometry>
    </collision>
    <inertial>
      <origin xyz="0 0 0"/>
      <mass value="0.3"/>
      <inertia ixx="0.00024000" ixy="0.0" ixz="0.0" iyy="0.00076000" iyz="0.0" izz="0.00076000"/>
    </inertial>
  </link>
  <joint name="front_right_roller4_joint" type="continuous">
    <origin rpy="-1.3449626171032882 0.2202852738547472 0.7603177925108144" xyz="0 0.016594212597934678 0.051071734925049746"/>
    <axis xyz="1 0 0"/>
    <parent link="front_right_wheel_link"/>
    <child link="front_right_roller4_link"/>
    <dynamics damping="0.001" friction="0.0001"/>
  </joint>
  <link name="front_right_roller3_link">
    <visual>
      <origin rpy="0 0 0" xyz="0 0 0"/>
      <geometry>
        <mesh filename="../meshes/mecanum_roller.dae" scale="0.6 0.6 0.6"/>
      </geometry>
    </visual>
    <collision>
      <geometry>
        <mesh filename="../meshes/mecanum_roller.stl" scale="0.6 0.6 0.6"/>
      </geometry>
    </collision>
    <inertial>
      <origin xyz="0 0 0"/>
      <mass value="0.3"/>
      <inertia ixx="0.00024000" ixy="0.0" ixz="0.0" iyy="0.00076000" iyz="0.0" izz="0.00076000"/>
    </inertial>
  </link>
  <joint name="front_right_roller3_joint" type="continuous">
    <origin rpy="-1.0038406803226867 0.4928592704898485 0.6390993414905141" xyz="0 0.03593231356147068 0.03990687712813607"/>
    <axis xyz="1 0 0"/>
    <parent link="front_right_wheel_link"/>
    <child link="front_right_roller3_link"/>
    <dynamics damping="0.001" friction="0.0001"/>
  </joint>
  <link name="front_right_roller2_link">
    <visual>
      <origin rpy="0 0 0" xyz="0 0 0"/>
      <geometry>
        <mesh filename="../meshes/mecanum_roller.dae" scale="0.6 0.6 0.6"/>
      </geometry>
    </visual>
    <collision>
      <geometry>
        <mesh filename="../meshes/mecanum_roller.stl" scale="0.6 0.6 0.6"/>
      </geometry>
    </collision>
    <inertial>
      <origin xyz="0 0 0"/>
      <mass value="0.3"/>
      <inertia ixx="0.00024000" ixy="0.0" ixz="0.0" iyy="0.00076000" iyz="0.0" izz="0.00076000"/>
    </inertial>
  </link>
  <joint name="front_right_roller2_joint" type="continuous">
    <origin rpy="-0.5619350361043128 0.702298780729168 0.3863003038769115" xyz="0 0.049057391075407665 0.02184175773317047"/>
    <axis xyz="1 0 0"/>
    <parent link="front_right_wheel_link"/>
    <child link="front_right_roller2_link"/>
    <dynamics damping="0.001" friction="0.0001"/>
  </joint>
  <link name="front_right_roller1_link">
    <visual>
      <origin rpy="0 0 0" xyz="0 0 0"/>
      <geometry>
        <mesh filename="../meshes/mecanum_roller.dae" scale="0.6 0.6 0.6"/>
      </geometry>
    </visual>
    <collision>
      <geometry>
        <mesh filename="../meshes/mecanum_roller.stl" scale="0.6 0.6 0.6"/>
      </geometry>
    </collision>
    <inertial>
      <origin xyz="0 0 0"/>
      <mass value="0.3"/>
      <inertia ixx="0.00024000" ixy="0.0" ixz="0.0" iyy="0.00076000" iyz="0.0" izz="0.00076000"/>
    </inertial>
  </link>
  <joint name="front_right_roller1_joint" type="continuous">
    <origin rpy="-0.0 0.7853981633974482 0.0" xyz="0 0.0537 0.0"/>
    <axis xyz="1 0 0"/>
    <parent link="front_right_wheel_link"/>
    <child link="front_right_roller1_link"/>
    <dynamics damping="0.001" friction="0.0001"/>
  </joint>
  
<link name="rear_right_wheel_link">
    <visual>
      <origin rpy="0 0 0" xyz="0 0 0"/>
      <geometry>
        <mesh filename="../meshes/mecanum_wheel.dae" scale="0.6 0.6 0.6"/>
      </geometry>
    </visual>
    <collision>
      <origin rpy="0 0 0" xyz="0 0 0"/>
      <geometry>
        <mesh filename="../meshes/mecanum_wheel.stl" scale="0.6 0.6 0.6"/>
      </geometry>
    </collision>
    <inertial>
      <origin xyz="0 0 0" />
      <mass value="2.0"/>
      <inertia ixx="0.042025" ixy="0.0" ixz="0.0" iyy="0.024279" iyz="0.0" izz="0.024279"/>
    </inertial>
  </link>
  <link name="rear_right_roller15_link">
    <visual>
      <origin rpy="0 0 0" xyz="0 0 0"/>
      <geometry>
        <mesh filename="../meshes/mecanum_roller.dae" scale="0.6 0.6 0.6"/>
      </geometry>
    </visual>
    <collision>
      <geometry>
        <mesh filename="../meshes/mecanum_roller.stl" scale="0.6 0.6 0.6"/>
      </geometry>
    </collision>
    <inertial>
      <origin xyz="0 0 0"/>
      <mass value="0.3"/>
      <inertia ixx="0.00024000" ixy="0.0" ixz="0.0" iyy="0.00076000" iyz="0.0" izz="0.00076000"/>
    </inertial>
  </link>
  <joint name="rear_right_roller15_joint" type="continuous">
    <origin rpy="0.5619350361043127 -0.7022987807291682 0.38630030387691144" xyz="0 0.04905739107540767 -0.021841757733170465"/>
    <axis xyz="1 0 0"/>
    <parent link="rear_right_wheel_link"/>
    <child link="rear_right_roller15_link"/>
    <dynamics damping="0.001" friction="0.0001"/>
  </joint>
  <link name="rear_right_roller14_link">
    <visual>
      <origin rpy="0 0 0" xyz="0 0 0"/>
      <geometry>
        <mesh filename="../meshes/mecanum_roller.dae" scale="0.6 0.6 0.6"/>
      </geometry>
    </visual>
    <collision>
      <geometry>
        <mesh filename="../meshes/mecanum_roller.stl" scale="0.6 0.6 0.6"/>
      </geometry>
    </collision>
    <inertial>
      <origin xyz="0 0 0"/>
      <mass value="0.3"/>
      <inertia ixx="0.00024000" ixy="0.0" ixz="0.0" iyy="0.00076000" iyz="0.0" izz="0.00076000"/>
    </inertial>
  </link>
  <joint name="rear_right_roller14_joint" type="continuous">
    <origin rpy="1.0038406803226874 -0.4928592704898482 0.6390993414905143" xyz="0 0.03593231356147066 -0.039906877128136085"/>
    <axis xyz="1 0 0"/>
    <parent link="rear_right_wheel_link"/>
    <child link="rear_right_roller14_link"/>
    <dynamics damping="0.001" friction="0.0001"/>
  </joint>
  <link name="rear_right_roller13_link">
    <visual>
      <origin rpy="0 0 0" xyz="0 0 0"/>
      <geometry>
        <mesh filename="../meshes/mecanum_roller.dae" scale="0.6 0.6 0.6"/>
      </geometry>
    </visual>
    <collision>
      <geometry>
        <mesh filename="../meshes/mecanum_roller.stl" scale="0.6 0.6 0.6"/>
      </geometry>
    </collision>
    <inertial>
      <origin xyz="0 0 0"/>
      <mass value="0.3"/>
      <inertia ixx="0.00024000" ixy="0.0" ixz="0.0" iyy="0.00076000" iyz="0.0" izz="0.00076000"/>
    </inertial>
  </link>
  <joint name="rear_right_roller13_joint" type="continuous">
    <origin rpy="1.3449626171032882 -0.22028527385474703 0.7603177925108144" xyz="0 0.01659421259793466 -0.051071734925049746"/>
    <axis xyz="1 0 0"/>
    <parent link="rear_right_wheel_link"/>
    <child link="rear_right_roller13_link"/>
    <dynamics damping="0.001" friction="0.0001"/>
  </joint>
  <link name="rear_right_roller12_link">
    <visual>
      <origin rpy="0 0 0" xyz="0 0 0"/>
      <geometry>
        <mesh filename="../meshes/mecanum_roller.dae" scale="0.6 0.6 0.6"/>
      </geometry>
    </visual>
    <collision>
      <geometry>
        <mesh filename="../meshes/mecanum_roller.stl" scale="0.6 0.6 0.6"/>
      </geometry>
    </collision>
    <inertial>
      <origin xyz="0 0 0"/>
      <mass value="0.3"/>
      <inertia ixx="0.00024000" ixy="0.0" ixz="0.0" iyy="0.00076000" iyz="0.0" izz="0.00076000"/>
    </inertial>
  </link>
  <joint name="rear_right_roller12_joint" type="continuous">
    <origin rpy="-1.4966127917301506 0.07398025001120935 0.7826515949744619" xyz="0 -0.0056131784774729855 -0.05340582578127628"/>
    <axis xyz="1 0 0"/>
    <parent link="rear_right_wheel_link"/>
    <child link="rear_right_roller12_link"/>
    <dynamics damping="0.001" friction="0.0001"/>
  </joint>
  <link name="rear_right_roller11_link">
    <visual>
      <origin rpy="0 0 0" xyz="0 0 0"/>
      <geometry>
        <mesh filename="../meshes/mecanum_roller.dae" scale="0.6 0.6 0.6"/>
      </geometry>
    </visual>
    <collision>
      <geometry>
        <mesh filename="../meshes/mecanum_roller.stl" scale="0.6 0.6 0.6"/>
      </geometry>
    </collision>
    <inertial>
      <origin xyz="0 0 0"/>
      <mass value="0.3"/>
      <inertia ixx="0.00024000" ixy="0.0" ixz="0.0" iyy="0.00076000" iyz="0.0" izz="0.00076000"/>
    </inertial>
  </link>
  <joint name="rear_right_roller11_joint" type="continuous">
    <origin rpy="-1.1831996401397156 0.3613671239067081 0.7137243789447655" xyz="0 -0.026850000000000023 -0.04650556418322434"/>
    <axis xyz="1 0 0"/>
    <parent link="rear_right_wheel_link"/>
    <child link="rear_right_roller11_link"/>
    <dynamics damping="0.001" friction="0.0001"/>
  </joint>
  <link name="rear_right_roller10_link">
    <visual>
      <origin rpy="0 0 0" xyz="0 0 0"/>
      <geometry>
        <mesh filename="../meshes/mecanum_roller.dae" scale="0.6 0.6 0.6"/>
      </geometry>
    </visual>
    <collision>
      <geometry>
        <mesh filename="../meshes/mecanum_roller.stl" scale="0.6 0.6 0.6"/>
      </geometry>
    </collision>
    <inertial>
      <origin xyz="0 0 0"/>
      <mass value="0.3"/>
      <inertia ixx="0.00024000" ixy="0.0" ixz="0.0" iyy="0.00076000" iyz="0.0" izz="0.00076000"/>
    </inertial>
  </link>
  <joint name="rear_right_roller10_joint" type="continuous">
    <origin rpy="-0.7989541677433551 0.6090169187607924 0.5313896516603533" xyz="0 -0.04344421259793468 -0.0315640680481058"/>
    <axis xyz="1 0 0"/>
    <parent link="rear_right_wheel_link"/>
    <child link="rear_right_roller10_link"/>
    <dynamics damping="0.001" friction="0.0001"/>
  </joint>
  <link name="rear_right_roller9_link">
    <visual>
      <origin rpy="0 0 0" xyz="0 0 0"/>
      <geometry>
        <mesh filename="../meshes/mecanum_roller.dae" scale="0.6 0.6 0.6"/>
      </geometry>
    </visual>
    <collision>
      <geometry>
        <mesh filename="../meshes/mecanum_roller.stl" scale="0.6 0.6 0.6"/>
      </geometry>
    </collision>
    <inertial>
      <origin xyz="0 0 0"/>
      <mass value="0.3"/>
      <inertia ixx="0.00024000" ixy="0.0" ixz="0.0" iyy="0.00076000" iyz="0.0" izz="0.00076000"/>
    </inertial>
  </link>
  <joint name="rear_right_roller9_joint" type="continuous">
    <origin rpy="-0.29200750368454736 0.7637777909460687 0.20499125187874406" xyz="0 -0.052526526159405354 -0.011164857796913686"/>
    <axis xyz="1 0 0"/>
    <parent link="rear_right_wheel_link"/>
    <child link="rear_right_roller9_link"/>
    <dynamics damping="0.001" friction="0.0001"/>
  </joint>
  <link name="rear_right_roller8_link">
    <visual>
      <origin rpy="0 0 0" xyz="0 0 0"/>
      <geometry>
        <mesh filename="../meshes/mecanum_roller.dae" scale="0.6 0.6 0.6"/>
      </geometry>
    </visual>
    <collision>
      <geometry>
        <mesh filename="../meshes/mecanum_roller.stl" scale="0.6 0.6 0.6"/>
      </geometry>
    </collision>
    <inertial>
      <origin xyz="0 0 0"/>
      <mass value="0.3"/>
      <inertia ixx="0.00024000" ixy="0.0" ixz="0.0" iyy="0.00076000" iyz="0.0" izz="0.00076000"/>
    </inertial>
  </link>
  <joint name="rear_right_roller8_joint" type="continuous">
    <origin rpy="0.2920075036845471 0.7637777909460687 -0.20499125187874387" xyz="0 -0.05252652615940536 0.011164857796913676"/>
    <axis xyz="1 0 0"/>
    <parent link="rear_right_wheel_link"/>
    <child link="rear_right_roller8_link"/>
    <dynamics damping="0.001" friction="0.0001"/>
  </joint>
  <link name="rear_right_roller7_link">
    <visual>
      <origin rpy="0 0 0" xyz="0 0 0"/>
      <geometry>
        <mesh filename="../meshes/mecanum_roller.dae" scale="0.6 0.6 0.6"/>
      </geometry>
    </visual>
    <collision>
      <geometry>
        <mesh filename="../meshes/mecanum_roller.stl" scale="0.6 0.6 0.6"/>
      </geometry>
    </collision>
    <inertial>
      <origin xyz="0 0 0"/>
      <mass value="0.3"/>
      <inertia ixx="0.00024000" ixy="0.0" ixz="0.0" iyy="0.00076000" iyz="0.0" izz="0.00076000"/>
    </inertial>
  </link>
  <joint name="rear_right_roller7_joint" type="continuous">
    <origin rpy="0.7989541677433554 0.6090169187607923 -0.5313896516603536" xyz="0 -0.04344421259793467 0.03156406804810581"/>
    <axis xyz="1 0 0"/>
    <parent link="rear_right_wheel_link"/>
    <child link="rear_right_roller7_link"/>
    <dynamics damping="0.001" friction="0.0001"/>
  </joint>
  <link name="rear_right_roller6_link">
    <visual>
      <origin rpy="0 0 0" xyz="0 0 0"/>
      <geometry>
        <mesh filename="../meshes/mecanum_roller.dae" scale="0.6 0.6 0.6"/>
      </geometry>
    </visual>
    <collision>
      <geometry>
        <mesh filename="../meshes/mecanum_roller.stl" scale="0.6 0.6 0.6"/>
      </geometry>
    </collision>
    <inertial>
      <origin xyz="0 0 0"/>
      <mass value="0.3"/>
      <inertia ixx="0.00024000" ixy="0.0" ixz="0.0" iyy="0.00076000" iyz="0.0" izz="0.00076000"/>
    </inertial>
  </link>
  <joint name="rear_right_roller6_joint" type="continuous">
    <origin rpy="1.1831996401397162 0.3613671239067076 -0.7137243789447657" xyz="0 -0.026849999999999985 0.04650556418322435"/>
    <axis xyz="1 0 0"/>
    <parent link="rear_right_wheel_link"/>
    <child link="rear_right_roller6_link"/>
    <dynamics damping="0.001" friction="0.0001"/>
  </joint>
  <link name="rear_right_roller5_link">
    <visual>
      <origin rpy="0 0 0" xyz="0 0 0"/>
      <geometry>
        <mesh filename="../meshes/mecanum_roller.dae" scale="0.6 0.6 0.6"/>
      </geometry>
    </visual>
    <collision>
      <geometry>
        <mesh filename="../meshes/mecanum_roller.stl" scale="0.6 0.6 0.6"/>
      </geometry>
    </collision>
    <inertial>
      <origin xyz="0 0 0"/>
      <mass value="0.3"/>
      <inertia ixx="0.00024000" ixy="0.0" ixz="0.0" iyy="0.00076000" iyz="0.0" izz="0.00076000"/>
    </inertial>
  </link>
  <joint name="rear_right_roller5_joint" type="continuous">
    <origin rpy="1.4966127917301504 0.07398025001120949 -0.7826515949744619" xyz="0 -0.005613178477472996 0.05340582578127627"/>
    <axis xyz="1 0 0"/>
    <parent link="rear_right_wheel_link"/>
    <child link="rear_right_roller5_link"/>
    <dynamics damping="0.001" friction="0.0001"/>
  </joint>
  <link name="rear_right_roller4_link">
    <visual>
      <origin rpy="0 0 0" xyz="0 0 0"/>
      <geometry>
        <mesh filename="../meshes/mecanum_roller.dae" scale="0.6 0.6 0.6"/>
      </geometry>
    </visual>
    <collision>
      <geometry>
        <mesh filename="../meshes/mecanum_roller.stl" scale="0.6 0.6 0.6"/>
      </geometry>
    </collision>
    <inertial>
      <origin xyz="0 0 0"/>
      <mass value="0.3"/>
      <inertia ixx="0.00024000" ixy="0.0" ixz="0.0" iyy="0.00076000" iyz="0.0" izz="0.00076000"/>
    </inertial>
  </link>
  <joint name="rear_right_roller4_joint" type="continuous">
    <origin rpy="-1.3449626171032882 -0.2202852738547472 -0.7603177925108144" xyz="0 0.016594212597934678 0.051071734925049746"/>
    <axis xyz="1 0 0"/>
    <parent link="rear_right_wheel_link"/>
    <child link="rear_right_roller4_link"/>
    <dynamics damping="0.001" friction="0.0001"/>
  </joint>
  <link name="rear_right_roller3_link">
    <visual>
      <origin rpy="0 0 0" xyz="0 0 0"/>
      <geometry>
        <mesh filename="../meshes/mecanum_roller.dae" scale="0.6 0.6 0.6"/>
      </geometry>
    </visual>
    <collision>
      <geometry>
        <mesh filename="../meshes/mecanum_roller.stl" scale="0.6 0.6 0.6"/>
      </geometry>
    </collision>
    <inertial>
      <origin xyz="0 0 0"/>
      <mass value="0.3"/>
      <inertia ixx="0.00024000" ixy="0.0" ixz="0.0" iyy="0.00076000" iyz="0.0" izz="0.00076000"/>
    </inertial>
  </link>
  <joint name="rear_right_roller3_joint" type="continuous">
    <origin rpy="-1.0038406803226867 -0.4928592704898485 -0.6390993414905141" xyz="0 0.03593231356147068 0.03990687712813607"/>
    <axis xyz="1 0 0"/>
    <parent link="rear_right_wheel_link"/>
    <child link="rear_right_roller3_link"/>
    <dynamics damping="0.001" friction="0.0001"/>
  </joint>
  <link name="rear_right_roller2_link">
    <visual>
      <origin rpy="0 0 0" xyz="0 0 0"/>
      <geometry>
        <mesh filename="../meshes/mecanum_roller.dae" scale="0.6 0.6 0.6"/>
      </geometry>
    </visual>
    <collision>
      <geometry>
        <mesh filename="../meshes/mecanum_roller.stl" scale="0.6 0.6 0.6"/>
      </geometry>
    </collision>
    <inertial>
      <origin xyz="0 0 0"/>
      <mass value="0.3"/>
      <inertia ixx="0.00024000" ixy="0.0" ixz="0.0" iyy="0.00076000" iyz="0.0" izz="0.00076000"/>
    </inertial>
  </link>
  <joint name="rear_right_roller2_joint" type="continuous">
    <origin rpy="-0.5619350361043128 -0.702298780729168 -0.3863003038769115" xyz="0 0.049057391075407665 0.02184175773317047"/>
    <axis xyz="1 0 0"/>
    <parent link="rear_right_wheel_link"/>
    <child link="rear_right_roller2_link"/>
    <dynamics damping="0.001" friction="0.0001"/>
  </joint>
  <link name="rear_right_roller1_link">
    <visual>
      <origin rpy="0 0 0" xyz="0 0 0"/>
      <geometry>
        <mesh filename="../meshes/mecanum_roller.dae" scale="0.6 0.6 0.6"/>
      </geometry>
    </visual>
    <collision>
      <geometry>
        <mesh filename="../meshes/mecanum_roller.stl" scale="0.6 0.6 0.6"/>
      </geometry>
    </collision>
    <inertial>
      <origin xyz="0 0 0"/>
      <mass value="0.3"/>
      <inertia ixx="0.00024000" ixy="0.0" ixz="0.0" iyy="0.00076000" iyz="0.0" izz="0.00076000"/>
    </inertial>
  </link>
  <joint name="rear_right_roller1_joint" type="continuous">
    <origin rpy="-0.0 -0.7853981633974482 -0.0" xyz="0 0.0537 0.0"/>
    <axis xyz="1 0 0"/>
    <parent link="rear_right_wheel_link"/>
    <child link="rear_right_roller1_link"/>
    <dynamics damping="0.001" friction="0.0001"/>
  </joint>

<link name="rear_left_wheel_link">
    <visual>
      <origin rpy="0 0 0" xyz="0 0 0"/>
      <geometry>
        <mesh filename="../meshes/mecanum_wheel.dae" scale="0.6 0.6 0.6"/>
      </geometry>
    </visual>
    <collision>
      <origin rpy="0 0 0" xyz="0 0 0"/>
      <geometry>
        <mesh filename="../meshes/mecanum_wheel.stl" scale="0.6 0.6 0.6"/>
      </geometry>
    </collision>
    <inertial>
      <origin xyz="0 0 0" />
      <mass value="2.0"/>
      <inertia ixx="0.042025" ixy="0.0" ixz="0.0" iyy="0.024279" iyz="0.0" izz="0.024279"/>
    </inertial>
  </link>
  <link name="rear_left_roller15_link">
    <visual>
      <origin rpy="0 0 0" xyz="0 0 0"/>
      <geometry>
        <mesh filename="../meshes/mecanum_roller.dae" scale="0.6 0.6 0.6"/>
      </geometry>
    </visual>
    <collision>
      <geometry>
        <mesh filename="../meshes/mecanum_roller.stl" scale="0.6 0.6 0.6"/>
      </geometry>
    </collision>
    <inertial>
      <origin xyz="0 0 0"/>
      <mass value="0.3"/>
      <inertia ixx="0.00024000" ixy="0.0" ixz="0.0" iyy="0.00076000" iyz="0.0" izz="0.00076000"/>
    </inertial>
  </link>
  <joint name="rear_left_roller15_joint" type="continuous">
    <origin rpy="0.5619350361043127 0.7022987807291682 -0.38630030387691144" xyz="0 0.04905739107540767 -0.021841757733170465"/>
    <axis xyz="1 0 0"/>
    <parent link="rear_left_wheel_link"/>
    <child link="rear_left_roller15_link"/>
    <dynamics damping="0.001" friction="0.0001"/>
  </joint>
  <link name="rear_left_roller14_link">
    <visual>
      <origin rpy="0 0 0" xyz="0 0 0"/>
      <geometry>
        <mesh filename="../meshes/mecanum_roller.dae" scale="0.6 0.6 0.6"/>
      </geometry>
    </visual>
    <collision>
      <geometry>
        <mesh filename="../meshes/mecanum_roller.stl" scale="0.6 0.6 0.6"/>
      </geometry>
    </collision>
    <inertial>
      <origin xyz="0 0 0"/>
      <mass value="0.3"/>
      <inertia ixx="0.00024000" ixy="0.0" ixz="0.0" iyy="0.00076000" iyz="0.0" izz="0.00076000"/>
    </inertial>
  </link>
  <joint name="rear_left_roller14_joint" type="continuous">
    <origin rpy="1.0038406803226874 0.4928592704898482 -0.6390993414905143" xyz="0 0.03593231356147066 -0.039906877128136085"/>
    <axis xyz="1 0 0"/>
    <parent link="rear_left_wheel_link"/>
    <child link="rear_left_roller14_link"/>
    <dynamics damping="0.001" friction="0.0001"/>
  </joint>
  <link name="rear_left_roller13_link">
    <visual>
      <origin rpy="0 0 0" xyz="0 0 0"/>
      <geometry>
        <mesh filename="../meshes/mecanum_roller.dae" scale="0.6 0.6 0.6"/>
      </geometry>
    </visual>
    <collision>
      <geometry>
        <mesh filename="../meshes/mecanum_roller.stl" scale="0.6 0.6 0.6"/>
      </geometry>
    </collision>
    <inertial>
      <origin xyz="0 0 0"/>
      <mass value="0.3"/>
      <inertia ixx="0.00024000" ixy="0.0" ixz="0.0" iyy="0.00076000" iyz="0.0" izz="0.00076000"/>
    </inertial>
  </link>
  <joint name="rear_left_roller13_joint" type="continuous">
    <origin rpy="1.3449626171032882 0.22028527385474703 -0.7603177925108144" xyz="0 0.01659421259793466 -0.051071734925049746"/>
    <axis xyz="1 0 0"/>
    <parent link="rear_left_wheel_link"/>
    <child link="rear_left_roller13_link"/>
    <dynamics damping="0.001" friction="0.0001"/>
  </joint>
  <link name="rear_left_roller12_link">
    <visual>
      <origin rpy="0 0 0" xyz="0 0 0"/>
      <geometry>
        <mesh filename="../meshes/mecanum_roller.dae" scale="0.6 0.6 0.6"/>
      </geometry>
    </visual>
    <collision>
      <geometry>
        <mesh filename="../meshes/mecanum_roller.stl" scale="0.6 0.6 0.6"/>
      </geometry>
    </collision>
    <inertial>
      <origin xyz="0 0 0"/>
      <mass value="0.3"/>
      <inertia ixx="0.00024000" ixy="0.0" ixz="0.0" iyy="0.00076000" iyz="0.0" izz="0.00076000"/>
    </inertial>
  </link>
  <joint name="rear_left_roller12_joint" type="continuous">
    <origin rpy="-1.4966127917301506 -0.07398025001120935 -0.7826515949744619" xyz="0 -0.0056131784774729855 -0.05340582578127628"/>
    <axis xyz="1 0 0"/>
    <parent link="rear_left_wheel_link"/>
    <child link="rear_left_roller12_link"/>
    <dynamics damping="0.001" friction="0.0001"/>
  </joint>
  <link name="rear_left_roller11_link">
    <visual>
      <origin rpy="0 0 0" xyz="0 0 0"/>
      <geometry>
        <mesh filename="../meshes/mecanum_roller.dae" scale="0.6 0.6 0.6"/>
      </geometry>
    </visual>
    <collision>
      <geometry>
        <mesh filename="../meshes/mecanum_roller.stl" scale="0.6 0.6 0.6"/>
      </geometry>
    </collision>
    <inertial>
      <origin xyz="0 0 0"/>
      <mass value="0.3"/>
      <inertia ixx="0.00024000" ixy="0.0" ixz="0.0" iyy="0.00076000" iyz="0.0" izz="0.00076000"/>
    </inertial>
  </link>
  <joint name="rear_left_roller11_joint" type="continuous">
    <origin rpy="-1.1831996401397156 -0.3613671239067081 -0.7137243789447655" xyz="0 -0.026850000000000023 -0.04650556418322434"/>
    <axis xyz="1 0 0"/>
    <parent link="rear_left_wheel_link"/>
    <child link="rear_left_roller11_link"/>
    <dynamics damping="0.001" friction="0.0001"/>
  </joint>
  <link name="rear_left_roller10_link">
    <visual>
      <origin rpy="0 0 0" xyz="0 0 0"/>
      <geometry>
        <mesh filename="../meshes/mecanum_roller.dae" scale="0.6 0.6 0.6"/>
      </geometry>
    </visual>
    <collision>
      <geometry>
        <mesh filename="../meshes/mecanum_roller.stl" scale="0.6 0.6 0.6"/>
      </geometry>
    </collision>
    <inertial>
      <origin xyz="0 0 0"/>
      <mass value="0.3"/>
      <inertia ixx="0.00024000" ixy="0.0" ixz="0.0" iyy="0.00076000" iyz="0.0" izz="0.00076000"/>
    </inertial>
  </link>
  <joint name="rear_left_roller10_joint" type="continuous">
    <origin rpy="-0.7989541677433551 -0.6090169187607924 -0.5313896516603533" xyz="0 -0.04344421259793468 -0.0315640680481058"/>
    <axis xyz="1 0 0"/>
    <parent link="rear_left_wheel_link"/>
    <child link="rear_left_roller10_link"/>
    <dynamics damping="0.001" friction="0.0001"/>
  </joint>
  <link name="rear_left_roller9_link">
    <visual>
      <origin rpy="0 0 0" xyz="0 0 0"/>
      <geometry>
        <mesh filename="../meshes/mecanum_roller.dae" scale="0.6 0.6 0.6"/>
      </geometry>
    </visual>
    <collision>
      <geometry>
        <mesh filename="../meshes/mecanum_roller.stl" scale="0.6 0.6 0.6"/>
      </geometry>
    </collision>
    <inertial>
      <origin xyz="0 0 0"/>
      <mass value="0.3"/>
      <inertia ixx="0.00024000" ixy="0.0" ixz="0.0" iyy="0.00076000" iyz="0.0" izz="0.00076000"/>
    </inertial>
  </link>
  <joint name="rear_left_roller9_joint" type="continuous">
    <origin rpy="-0.29200750368454736 -0.7637777909460687 -0.20499125187874406" xyz="0 -0.052526526159405354 -0.011164857796913686"/>
    <axis xyz="1 0 0"/>
    <parent link="rear_left_wheel_link"/>
    <child link="rear_left_roller9_link"/>
    <dynamics damping="0.001" friction="0.0001"/>
  </joint>
  <link name="rear_left_roller8_link">
    <visual>
      <origin rpy="0 0 0" xyz="0 0 0"/>
      <geometry>
        <mesh filename="../meshes/mecanum_roller.dae" scale="0.6 0.6 0.6"/>
      </geometry>
    </visual>
    <collision>
      <geometry>
        <mesh filename="../meshes/mecanum_roller.stl" scale="0.6 0.6 0.6"/>
      </geometry>
    </collision>
    <inertial>
      <origin xyz="0 0 0"/>
      <mass value="0.3"/>
      <inertia ixx="0.00024000" ixy="0.0" ixz="0.0" iyy="0.00076000" iyz="0.0" izz="0.00076000"/>
    </inertial>
  </link>
  <joint name="rear_left_roller8_joint" type="continuous">
    <origin rpy="0.2920075036845471 -0.7637777909460687 0.20499125187874387" xyz="0 -0.05252652615940536 0.011164857796913676"/>
    <axis xyz="1 0 0"/>
    <parent link="rear_left_wheel_link"/>
    <child link="rear_left_roller8_link"/>
    <dynamics damping="0.001" friction="0.0001"/>
  </joint>
  <link name="rear_left_roller7_link">
    <visual>
      <origin rpy="0 0 0" xyz="0 0 0"/>
      <geometry>
        <mesh filename="../meshes/mecanum_roller.dae" scale="0.6 0.6 0.6"/>
      </geometry>
    </visual>
    <collision>
      <geometry>
        <mesh filename="../meshes/mecanum_roller.stl" scale="0.6 0.6 0.6"/>
      </geometry>
    </collision>
    <inertial>
      <origin xyz="0 0 0"/>
      <mass value="0.3"/>
      <inertia ixx="0.00024000" ixy="0.0" ixz="0.0" iyy="0.00076000" iyz="0.0" izz="0.00076000"/>
    </inertial>
  </link>
  <joint name="rear_left_roller7_joint" type="continuous">
    <origin rpy="0.7989541677433554 -0.6090169187607923 0.5313896516603536" xyz="0 -0.04344421259793467 0.03156406804810581"/>
    <axis xyz="1 0 0"/>
    <parent link="rear_left_wheel_link"/>
    <child link="rear_left_roller7_link"/>
    <dynamics damping="0.001" friction="0.0001"/>
  </joint>
  <link name="rear_left_roller6_link">
    <visual>
      <origin rpy="0 0 0" xyz="0 0 0"/>
      <geometry>
        <mesh filename="../meshes/mecanum_roller.dae" scale="0.6 0.6 0.6"/>
      </geometry>
    </visual>
    <collision>
      <geometry>
        <mesh filename="../meshes/mecanum_roller.stl" scale="0.6 0.6 0.6"/>
      </geometry>
    </collision>
    <inertial>
      <origin xyz="0 0 0"/>
      <mass value="0.3"/>
      <inertia ixx="0.00024000" ixy="0.0" ixz="0.0" iyy="0.00076000" iyz="0.0" izz="0.00076000"/>
    </inertial>
  </link>
  <joint name="rear_left_roller6_joint" type="continuous">
    <origin rpy="1.1831996401397162 -0.3613671239067076 0.7137243789447657" xyz="0 -0.026849999999999985 0.04650556418322435"/>
    <axis xyz="1 0 0"/>
    <parent link="rear_left_wheel_link"/>
    <child link="rear_left_roller6_link"/>
    <dynamics damping="0.001" friction="0.0001"/>
  </joint>
  <link name="rear_left_roller5_link">
    <visual>
      <origin rpy="0 0 0" xyz="0 0 0"/>
      <geometry>
        <mesh filename="../meshes/mecanum_roller.dae" scale="0.6 0.6 0.6"/>
      </geometry>
    </visual>
    <collision>
      <geometry>
        <mesh filename="../meshes/mecanum_roller.stl" scale="0.6 0.6 0.6"/>
      </geometry>
    </collision>
    <inertial>
      <origin xyz="0 0 0"/>
      <mass value="0.3"/>
      <inertia ixx="0.00024000" ixy="0.0" ixz="0.0" iyy="0.00076000" iyz="0.0" izz="0.00076000"/>
    </inertial>
  </link>
  <joint name="rear_left_roller5_joint" type="continuous">
    <origin rpy="1.4966127917301504 -0.07398025001120949 0.7826515949744619" xyz="0 -0.005613178477472996 0.05340582578127627"/>
    <axis xyz="1 0 0"/>
    <parent link="rear_left_wheel_link"/>
    <child link="rear_left_roller5_link"/>
    <dynamics damping="0.001" friction="0.0001"/>
  </joint>
  <link name="rear_left_roller4_link">
    <visual>
      <origin rpy="0 0 0" xyz="0 0 0"/>
      <geometry>
        <mesh filename="../meshes/mecanum_roller.dae" scale="0.6 0.6 0.6"/>
      </geometry>
    </visual>
    <collision>
      <geometry>
        <mesh filename="../meshes/mecanum_roller.stl" scale="0.6 0.6 0.6"/>
      </geometry>
    </collision>
    <inertial>
      <origin xyz="0 0 0"/>
      <mass value="0.3"/>
      <inertia ixx="0.00024000" ixy="0.0" ixz="0.0" iyy="0.00076000" iyz="0.0" izz="0.00076000"/>
    </inertial>
  </link>
  <joint name="rear_left_roller4_joint" type="continuous">
    <origin rpy="-1.3449626171032882 0.2202852738547472 0.7603177925108144" xyz="0 0.016594212597934678 0.051071734925049746"/>
    <axis xyz="1 0 0"/>
    <parent link="rear_left_wheel_link"/>
    <child link="rear_left_roller4_link"/>
    <dynamics damping="0.001" friction="0.0001"/>
  </joint>
  <link name="rear_left_roller3_link">
    <visual>
      <origin rpy="0 0 0" xyz="0 0 0"/>
      <geometry>
        <mesh filename="../meshes/mecanum_roller.dae" scale="0.6 0.6 0.6"/>
      </geometry>
    </visual>
    <collision>
      <geometry>
        <mesh filename="../meshes/mecanum_roller.stl" scale="0.6 0.6 0.6"/>
      </geometry>
    </collision>
    <inertial>
      <origin xyz="0 0 0"/>
      <mass value="0.3"/>
      <inertia ixx="0.00024000" ixy="0.0" ixz="0.0" iyy="0.00076000" iyz="0.0" izz="0.00076000"/>
    </inertial>
  </link>
  <joint name="rear_left_roller3_joint" type="continuous">
    <origin rpy="-1.0038406803226867 0.4928592704898485 0.6390993414905141" xyz="0 0.03593231356147068 0.03990687712813607"/>
    <axis xyz="1 0 0"/>
    <parent link="rear_left_wheel_link"/>
    <child link="rear_left_roller3_link"/>
    <dynamics damping="0.001" friction="0.0001"/>
  </joint>
  <link name="rear_left_roller2_link">
    <visual>
      <origin rpy="0 0 0" xyz="0 0 0"/>
      <geometry>
        <mesh filename="../meshes/mecanum_roller.dae" scale="0.6 0.6 0.6"/>
      </geometry>
    </visual>
    <collision>
      <geometry>
        <mesh filename="../meshes/mecanum_roller.stl" scale="0.6 0.6 0.6"/>
      </geometry>
    </collision>
    <inertial>
      <origin xyz="0 0 0"/>
      <mass value="0.3"/>
      <inertia ixx="0.00024000" ixy="0.0" ixz="0.0" iyy="0.00076000" iyz="0.0" izz="0.00076000"/>
    </inertial>
  </link>
  <joint name="rear_left_roller2_joint" type="continuous">
    <origin rpy="-0.5619350361043128 0.702298780729168 0.3863003038769115" xyz="0 0.049057391075407665 0.02184175773317047"/>
    <axis xyz="1 0 0"/>
    <parent link="rear_left_wheel_link"/>
    <child link="rear_left_roller2_link"/>
    <dynamics damping="0.001" friction="0.0001"/>
  </joint>
  <link name="rear_left_roller1_link">
    <visual>
      <origin rpy="0 0 0" xyz="0 0 0"/>
      <geometry>
        <mesh filename="../meshes/mecanum_roller.dae" scale="0.6 0.6 0.6"/>
      </geometry>
    </visual>
    <collision>
      <geometry>
        <mesh filename="../meshes/mecanum_roller.stl" scale="0.6 0.6 0.6"/>
      </geometry>
    </collision>
    <inertial>
      <origin xyz="0 0 0"/>
      <mass value="0.3"/>
      <inertia ixx="0.00024000" ixy="0.0" ixz="0.0" iyy="0.00076000" iyz="0.0" izz="0.00076000"/>
    </inertial>
  </link>
  <joint name="rear_left_roller1_joint" type="continuous">
    <origin rpy="-0.0 0.7853981633974482 0.0" xyz="0 0.0537 0.0"/>
    <axis xyz="1 0 0"/>
    <parent link="rear_left_wheel_link"/>
    <child link="rear_left_roller1_link"/>
    <dynamics damping="0.001" friction="0.0001"/>
  </joint>


</robot>
